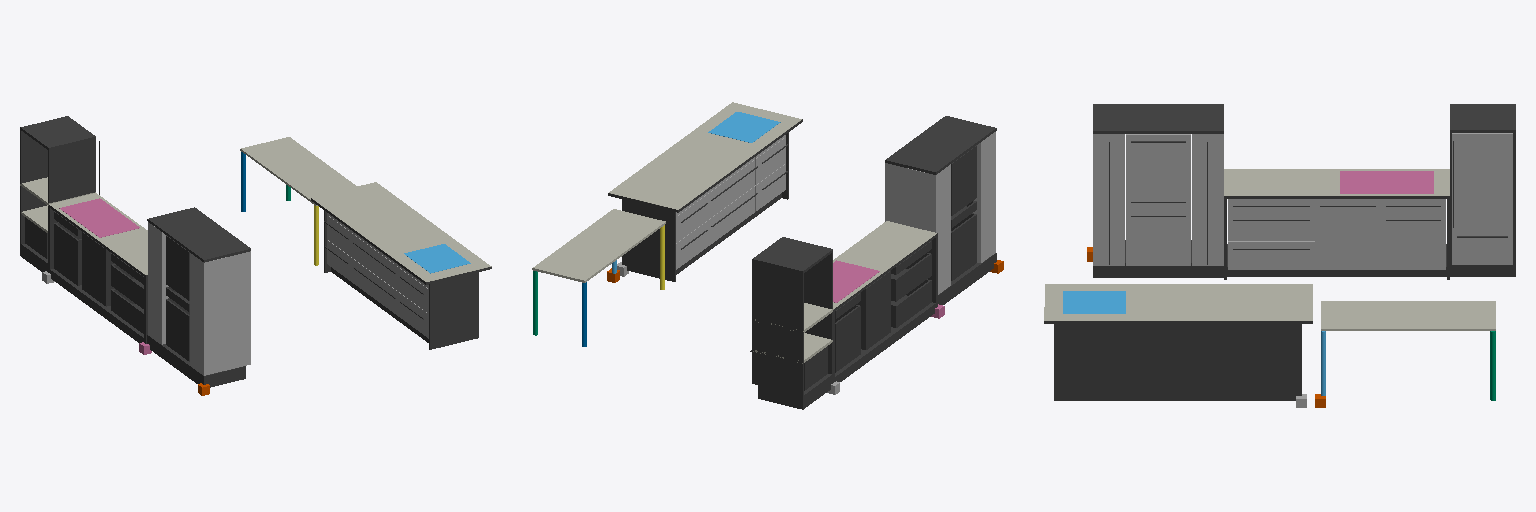
--- What the picture shows (computed from the rendered views, not written in the file) ---
The picture shows the robot from 3 angles, left to right: view 1: azimuth 30°, elevation 25°; view 2: azimuth 150°, elevation 25°; view 3: azimuth 270°, elevation 25°; orthographic projection.
Model kitchen with 174 links and 173 joints (1 revolute, 21 prismatic, 151 fixed), rooted at kitchen_link, posed every joint at zero.
Links seen in each view (by area): view 1: drawer_oven_left_link, white_counter_top_island_link, pancake_table_table_top_link, counter_side_island_right_link, counter_top_oven_link, counter_side_fridge_left_link, drawer_oven_right_link, white_counter_top_sink_link, counter_side_fridge_right_link, sink_link, counter_top_fridge_link, drawer_sink_col2_back_link (+15 smaller); view 2: white_counter_top_island_link, counter_side_fridge_right_link, drawer_oven_right_link, pancake_table_table_top_link, counter_top_oven_link, white_counter_top_sink_link, counter_side_island_left_link, drawer_oven_left_link, counter_side_fridge_left_link, counter_top_fridge_link, drawer_sink_col2_back_link, drawer_oven_oven_back_link (+18 smaller); view 3: counter_side_island_back_link, white_counter_top_island_link, fridge_link, pancake_table_table_top_link, drawer_sink_col2_link, drawer_oven_left_link, drawer_oven_right_link, white_counter_top_sink_link, counter_top_oven_link, drawer_oven_oven_link, drawer_oven_bottom_link, drawer_sink_col3_bottom_link (+14 smaller).
Boxes of the visible links, left/top/right/bottom form: drawer_oven_left_link: left=190, top=251, right=250, bottom=375; white_counter_top_island_link: left=312, top=182, right=491, bottom=281; pancake_table_table_top_link: left=240, top=137, right=356, bottom=205; counter_side_island_right_link: left=429, top=272, right=478, bottom=349; counter_top_oven_link: left=147, top=207, right=250, bottom=262; counter_side_fridge_left_link: left=48, top=139, right=95, bottom=263; drawer_oven_right_link: left=148, top=222, right=168, bottom=344; white_counter_top_sink_link: left=49, top=193, right=147, bottom=274; counter_side_fridge_right_link: left=20, top=130, right=47, bottom=243; sink_link: left=59, top=198, right=139, bottom=237; counter_top_fridge_link: left=20, top=116, right=95, bottom=149; drawer_sink_col2_back_link: left=82, top=232, right=107, bottom=306; white_counter_top_island_link: left=609, top=102, right=801, bottom=209; counter_side_fridge_right_link: left=752, top=262, right=803, bottom=395; drawer_oven_right_link: left=885, top=163, right=950, bottom=294; pancake_table_table_top_link: left=532, top=209, right=665, bottom=282; counter_top_oven_link: left=885, top=116, right=996, bottom=174; white_counter_top_sink_link: left=833, top=221, right=936, bottom=309; counter_side_island_left_link: left=622, top=199, right=675, bottom=281; drawer_oven_left_link: left=973, top=132, right=995, bottom=262; counter_side_fridge_left_link: left=804, top=253, right=832, bottom=374; counter_top_fridge_link: left=752, top=237, right=832, bottom=273; drawer_sink_col2_back_link: left=864, top=271, right=890, bottom=349; drawer_oven_oven_back_link: left=951, top=145, right=976, bottom=215; counter_side_island_back_link: left=1058, top=324, right=1298, bottom=400; white_counter_top_island_link: left=1044, top=284, right=1312, bottom=320; fridge_link: left=1452, top=133, right=1512, bottom=228; pancake_table_table_top_link: left=1321, top=301, right=1495, bottom=330; drawer_sink_col2_link: left=1315, top=199, right=1380, bottom=269; drawer_oven_left_link: left=1093, top=134, right=1124, bottom=265; drawer_oven_right_link: left=1192, top=134, right=1223, bottom=265; white_counter_top_sink_link: left=1224, top=169, right=1449, bottom=195; counter_top_oven_link: left=1093, top=104, right=1223, bottom=133; drawer_oven_oven_link: left=1126, top=134, right=1190, bottom=195; drawer_oven_bottom_link: left=1126, top=209, right=1190, bottom=265; drawer_sink_col3_bottom_link: left=1381, top=213, right=1445, bottom=269.
Bounding box of the posed robot: 3.34 × 4.3 × 1.56 m (x, y, z).
Geometry: primitives only (box / cylinder / sphere), no mesh files.

The robot description file, URDF, robot "kitchen":
<?xml version="1.0" encoding="utf-8"?>
<!-- =================================================================================== -->
<!-- |    This document was autogenerated by xacro from /workspace/src/iai_maps/build-rel/room/kitchen_area.xacro | -->
<!-- |    EDITING THIS FILE BY HAND IS NOT RECOMMENDED                                 | -->
<!-- =================================================================================== -->
<robot name="kitchen" xmlns:controller="http://playerstage.sourceforge.net/gazebo/xmlschema/#controller" xmlns:interface="http://playerstage.sourceforge.net/gazebo/xmlschema/#interface" xmlns:sensor="http://playerstage.sourceforge.net/gazebo/xmlschema/#sensor">
  <material name="KitchenWhite">
    <color rgba="0.75 0.75 0.7 1.0"/>
  </material>
  <material name="KitchenDarkGray">
    <color rgba="0.3 0.3 0.3 1.0"/>
  </material>
  <material name="KitchenLightGray">
    <color rgba="0.7 0.7 0.7 1.0"/>
  </material>
  <material name="KitchenWallWhite">
    <color rgba="1.0 1.0 1.0 1.0"/>
  </material>
  <material name="KitchenSink">
    <texture filename="package://hpp_tutorial/Media/materials/textures/sink.png"/>
  </material>
  <material name="KitchenStove">
    <texture filename="package://hpp_tutorial/Media/materials/textures/stove.png"/>
  </material>
  <!-- Little helper macro to define the inertia matrix needed for links. -->
  <!-- Length is along the y-axis. -->
  <!--<xacro:macro name="handle" params="name position link clearance">
    <handle name="${name}" clearance="${clearance}">
      <position>${position}</position>
      <link name="${link}" />
    </handle>
  </xacro:macro>-->
  <!--  <xacro:include filename="/workspace/src/iai_maps/build-rel/defs/ias_kitchen/materials.xacro"/>-->
  <!--                       -->
  <!-- Handle Goemetry Macro -->
  <!--                       -->
  <!--                         -->
  <!-- Axial Handle SRDF Macro -->
  <!--                         -->
  <!--                   -->
  <!-- Handle SRDF Macro -->
  <!--                   -->
  <!--              -->
  <!-- Drawer Macro -->
  <!--              -->
  <!--                   -->
  <!-- Drawer SRDF Macro -->
  <!--                   -->
  <!--                       -->
  <!-- Drawer Vertical Macro -->
  <!--                       -->
  <!--              -->
  <!-- Fridge Macro -->
  <!--              -->
  <!--                   -->
  <!-- Fridge SRDF Macro -->
  <!--                   -->
  <!--               -->
  <!-- Counter Macro -->
  <!--               -->
  <!--                     -->
  <!-- Color Counter Macro -->
  <!--                     -->
  <!--                    -->
  <!-- Counter Side Macro -->
  <!--                    -->
  <!--             -->
  <!-- Rack Macro -->
  <!--             -->
  <!--                 -->
  <!-- Rack Side Macro -->
  <!--                 -->
  <!--                -->
  <!-- Skirting Macro -->
  <!--                -->
  <!--             -->
  <!-- Island Area -->
  <!--             -->
  <!--           -->
  <!-- Oven Area -->
  <!--           -->
  <!--             -->
  <!-- Fridge Area -->
  <!--             -->
  <!--                  -->
  <!-- Fridge SRDF Area -->
  <!--                  -->
  <!--               -->
  <!-- Shopping Area -->
  <!--               -->
  <!-- Little helper macro to define the inertia matrix needed for links. -->
  <!-- Length is along the y-axis. -->
  <!--<xacro:macro name="handle" params="name position link clearance">
    <handle name="${name}" clearance="${clearance}">
      <position>${position}</position>
      <link name="${link}" />
    </handle>
  </xacro:macro>-->
  <!--  <xacro:include filename="/workspace/src/iai_maps/build-rel/defs/ias_kitchen/materials.xacro"/>-->
  <!--                       -->
  <!-- Handle Goemetry Macro -->
  <!--                       -->
  <!--                         -->
  <!-- Axial Handle SRDF Macro -->
  <!--                         -->
  <!--                   -->
  <!-- Handle SRDF Macro -->
  <!--                   -->
  <!--              -->
  <!-- Drawer Macro -->
  <!--              -->
  <!--                   -->
  <!-- Drawer SRDF Macro -->
  <!--                   -->
  <!--                       -->
  <!-- Drawer Vertical Macro -->
  <!--                       -->
  <!--              -->
  <!-- Fridge Macro -->
  <!--              -->
  <!--                   -->
  <!-- Fridge SRDF Macro -->
  <!--                   -->
  <!--               -->
  <!-- Counter Macro -->
  <!--               -->
  <!--                     -->
  <!-- Color Counter Macro -->
  <!--                     -->
  <!--                    -->
  <!-- Counter Side Macro -->
  <!--                    -->
  <!--             -->
  <!-- Rack Macro -->
  <!--             -->
  <!--                 -->
  <!-- Rack Side Macro -->
  <!--                 -->
  <!--                -->
  <!-- Skirting Macro -->
  <!--                -->
  <!-- Little helper macro to define the inertia matrix needed for links. -->
  <!-- Length is along the y-axis. -->
  <!--<xacro:macro name="handle" params="name position link clearance">
    <handle name="${name}" clearance="${clearance}">
      <position>${position}</position>
      <link name="${link}" />
    </handle>
  </xacro:macro>-->
  <!--       -->
  <!-- Table -->
  <!--       -->
  <!-- Little helper macro to define the inertia matrix needed for links. -->
  <!-- Length is along the y-axis. -->
  <!--<xacro:macro name="handle" params="name position link clearance">
    <handle name="${name}" clearance="${clearance}">
      <position>${position}</position>
      <link name="${link}" />
    </handle>
  </xacro:macro>-->
  <!--  <xacro:include filename="/workspace/src/iai_maps/build-rel/defs/ias_kitchen/materials.xacro"/>-->
  <!--                       -->
  <!-- Handle Goemetry Macro -->
  <!--                       -->
  <!--                         -->
  <!-- Axial Handle SRDF Macro -->
  <!--                         -->
  <!--                   -->
  <!-- Handle SRDF Macro -->
  <!--                   -->
  <!--              -->
  <!-- Drawer Macro -->
  <!--              -->
  <!--                   -->
  <!-- Drawer SRDF Macro -->
  <!--                   -->
  <!--                       -->
  <!-- Drawer Vertical Macro -->
  <!--                       -->
  <!--              -->
  <!-- Fridge Macro -->
  <!--              -->
  <!--                   -->
  <!-- Fridge SRDF Macro -->
  <!--                   -->
  <!--               -->
  <!-- Counter Macro -->
  <!--               -->
  <!--                     -->
  <!-- Color Counter Macro -->
  <!--                     -->
  <!--                    -->
  <!-- Counter Side Macro -->
  <!--                    -->
  <!--             -->
  <!-- Rack Macro -->
  <!--             -->
  <!--                 -->
  <!-- Rack Side Macro -->
  <!--                 -->
  <!--                -->
  <!-- Skirting Macro -->
  <!--                -->
  <!-- Little helper macro to define the inertia matrix needed for links. -->
  <!-- Length is along the y-axis. -->
  <!--<xacro:macro name="handle" params="name position link clearance">
    <handle name="${name}" clearance="${clearance}">
      <position>${position}</position>
      <link name="${link}" />
    </handle>
  </xacro:macro>-->
  <!--       -->
  <!-- Table -->
  <!--       -->
  <!--        -->
  <!-- Cuboid -->
  <!--        -->
  <!-- This is the top level joint /tf frame. -->
  <link name="kitchen_link">
    <!--<sphere_inertia radius="0.001" mass="1"/>-->
  </link>
  <!-- Shelves on top of kitchen counter -->
  <!--<counter parent="kitchen"
  name="shelf_bottom"
  pos_x="-5.22" pos_y="-5.65" pos_z="0.85"
  roll="0" pitch="0" yaw="0"
  size_x="0.25" size_y="0.38" size_z="0.025"
  />
  <counter parent="kitchen"
  name="shelf_center"
  pos_x="-5.22" pos_y="-5.65" pos_z="1.15"
  roll="0" pitch="0" yaw="0"
  size_x="0.21" size_y="0.38" size_z="0.025"
  />
  <counter parent="kitchen"
  name="shelf_top"
  pos_x="-5.22" pos_y="-5.65" pos_z="1.48"
  roll="0" pitch="0" yaw="0"
  size_x="0.25" size_y="0.38" size_z="0.025"
  />-->
  <joint name="island_block_stove_joint" type="fixed">
    <origin rpy="0 0 0" xyz="0 0 0"/>
    <parent link="island_block_link"/>
    <child link="stove_link"/>
  </joint>
  <link name="stove_link">
    <inertial>
      <mass value="1.0"/>
      <inertia ixx="0.0270770833333" ixy="0" ixz="0" iyy="0.0479083333333" iyz="0" izz="0.0208354166667"/>
    </inertial>
    <visual>
      <origin rpy="0 0 0" xyz=".30 1.895 .8525"/>
      <geometry>
        <box size=".50 .57 0.005"/>
      </geometry>
      <material name="KitchenStove"/>
    </visual>
    <collision>
      <origin rpy="0 0 0" xyz=".30 1.895 .8525"/>
      <geometry>
        <box size=".50 .57 0.005"/>
      </geometry>
    </collision>
  </link>
  <gazebo reference="stove_link">
    <material value="Ias/KitchenStove"/>
  </gazebo>
  <joint name="island_block_counter_side_island_left_joint" type="fixed">
    <origin rpy="0 0 0" xyz="0.3 0.015 0.41"/>
    <parent link="island_block_link"/>
    <child link="counter_side_island_left_link"/>
  </joint>
  <link name="counter_side_island_left_link">
    <inertial>
      <mass value="2.0"/>
      <inertia ixx="0.112216666667" ixy="0" ixz="0" iyy="0.06015" iyz="0" izz="0.172066666667"/>
    </inertial>
    <visual>
      <origin rpy="0 0 0" xyz="0 0 0"/>
      <geometry>
        <box size="0.6 0.03 0.82"/>
      </geometry>
      <material name="KitchenDarkGray"/>
    </visual>
    <collision>
      <origin rpy="0 0 0" xyz="0 0 0"/>
      <geometry>
        <box size="0.6 0.03 0.82"/>
      </geometry>
    </collision>
  </link>
  <gazebo reference="counter_side_island_left_link">
    <material value="Ias/KitchenDarkGray"/>
  </gazebo>
  <joint name="island_block_counter_side_island_right_joint" type="fixed">
    <origin rpy="0 0 0" xyz="0.3 2.245 0.41"/>
    <parent link="island_block_link"/>
    <child link="counter_side_island_right_link"/>
  </joint>
  <link name="counter_side_island_right_link">
    <inertial>
      <mass value="2.0"/>
      <inertia ixx="0.112216666667" ixy="0" ixz="0" iyy="0.06015" iyz="0" izz="0.172066666667"/>
    </inertial>
    <visual>
      <origin rpy="0 0 0" xyz="0 0 0"/>
      <geometry>
        <box size="0.6 0.03 0.82"/>
      </geometry>
      <material name="KitchenDarkGray"/>
    </visual>
    <collision>
      <origin rpy="0 0 0" xyz="0 0 0"/>
      <geometry>
        <box size="0.6 0.03 0.82"/>
      </geometry>
    </collision>
  </link>
  <gazebo reference="counter_side_island_right_link">
    <material value="Ias/KitchenDarkGray"/>
  </gazebo>
  <joint name="island_block_counter_side_island_back_joint" type="fixed">
    <origin rpy="0 0 0" xyz="0.01 1.13 0.41"/>
    <parent link="island_block_link"/>
    <child link="counter_side_island_back_link"/>
  </joint>
  <link name="counter_side_island_back_link">
    <inertial>
      <mass value="2.0"/>
      <inertia ixx="0.918733333333" ixy="0" ixz="0" iyy="0.806733333333" iyz="0" izz="0.112133333333"/>
    </inertial>
    <visual>
      <origin rpy="0 0 0" xyz="0 0 0"/>
      <geometry>
        <box size="0.02 2.2 0.82"/>
      </geometry>
      <material name="KitchenDarkGray"/>
    </visual>
    <collision>
      <origin rpy="0 0 0" xyz="0 0 0"/>
      <geometry>
        <box size="0.02 2.2 0.82"/>
      </geometry>
    </collision>
  </link>
  <gazebo reference="counter_side_island_back_link">
    <material value="Ias/KitchenDarkGray"/>
  </gazebo>
  <joint name="island_block_counter_top_island_joint" type="fixed">
    <origin rpy="0 0 0" xyz="0.3 1.125 0.835"/>
    <parent link="island_block_link"/>
    <child link="counter_top_island_link"/>
  </joint>
  <link name="counter_top_island_link">
    <inertial>
      <mass value="2.0"/>
      <inertia ixx="1.00056666667" ixy="0" ixz="0" iyy="1.10708333333" iyz="0" izz="0.106816666667"/>
    </inertial>
    <visual>
      <origin rpy="0 0 0" xyz="0 0 0"/>
      <geometry>
        <box size="0.8 2.45 0.03"/>
      </geometry>
      <material name="KitchenDarkGray"/>
    </visual>
    <collision>
      <origin rpy="0 0 0" xyz="0 0 0"/>
      <geometry>
        <box size="0.8 2.45 0.03"/>
      </geometry>
    </collision>
  </link>
  <gazebo reference="counter_top_island_link">
    <kp>100000</kp>
    <kd>1000000</kd>
    <mu1>50000</mu1>
    <mu2>50000</mu2>
    <material value="Ias/KitchenDarkGray"/>
  </gazebo>
  <joint name="island_block_white_counter_top_island_joint" type="fixed">
    <origin rpy="0 0 0" xyz="0.3 1.125 0.851"/>
    <parent link="island_block_link"/>
    <child link="white_counter_top_island_link"/>
  </joint>
  <link name="white_counter_top_island_link">
    <inertial>
      <mass value="2.0"/>
      <inertia ixx="1.00041733333" ixy="0" ixz="0" iyy="1.10708333333" iyz="0" izz="0.106667333333"/>
    </inertial>
    <visual>
      <origin rpy="0 0 0" xyz="0 0 0"/>
      <geometry>
        <box size="0.8 2.45 0.002"/>
      </geometry>
      <material name="KitchenWhite"/>
    </visual>
    <collision>
      <origin rpy="0 0 0" xyz="0 0 0"/>
      <geometry>
        <box size="0.8 2.45 0.002"/>
      </geometry>
    </collision>
  </link>
  <gazebo reference="white_counter_top_island_link">
    <kp>100000</kp>
    <kd>1000000</kd>
    <mu1>50000</mu1>
    <mu2>50000</mu2>
    <material value="Ias/KitchenWhite"/>
  </gazebo>
  <joint name="island_block_drawer_island_col1_bottom_fixed_joint" type="fixed">
    <origin rpy="0 0 0" xyz="0.57 0.33 0.245"/>
    <parent link="island_block_link"/>
    <child link="drawer_island_col1_bottom_fixed_link"/>
  </joint>
  <link name="drawer_island_col1_bottom_fixed_link">
    <inertial>
      <mass value="1"/>
      <inertia ixx="4e-07" ixy="0" ixz="0" iyy="4e-07" iyz="0" izz="4e-07"/>
    </inertial>
  </link>
  <joint name="island_block_drawer_island_col1_bottom_joint" type="prismatic">
    <origin rpy="0 0 0" xyz="0 0 0"/>
    <parent link="drawer_island_col1_bottom_fixed_link"/>
    <child link="drawer_island_col1_bottom_link"/>
    <axis xyz="0.999 0 0.044"/>
    <!-- the axis needs to be slightly tilted so that the drawers would stay closed in Gazebo-->
    <limit effort="300" lower="0" upper="0.48" velocity="10"/>
  </joint>
  <gazebo reference="island_block_drawer_island_col1_bottom_joint">
    <erp>0.8</erp>
    <cfm>0.0000001</cfm>
    <stopKp>1000000.0</stopKp>
    <stopKd>1.0</stopKd>
  </gazebo>
  <link name="drawer_island_col1_bottom_link">
    <inertial>
      <mass value="1.0"/>
      <inertia ixx="0.0370083333333" ixy="0" ixz="0" iyy="0.0300333333333" iyz="0" izz="0.00704166666667"/>
    </inertial>
    <visual>
      <origin rpy="0 0 0" xyz="0 0 0"/>
      <geometry>
        <box size="0.02 0.595 0.285"/>
      </geometry>
      <material name="KitchenLightGray"/>
    </visual>
    <collision>
      <origin rpy="0 0 0" xyz="0 0 0"/>
      <geometry>
        <box size="0.02 0.6 0.29"/>
      </geometry>
    </collision>
  </link>
  <gazebo reference="drawer_island_col1_bottom_link">
    <material value="Ias/KitchenLightGray"/>
  </gazebo>
  <joint name="drawer_island_col1_bottom_left_fixed_joint" type="fixed">
    <origin rpy="0 0 0" xyz="0 0 0"/>
    <parent link="drawer_island_col1_bottom_link"/>
    <child link="drawer_island_col1_bottom_left_link"/>
  </joint>
  <link name="drawer_island_col1_bottom_left_link">
    <inertial>
      <mass value="1.0"/>
      <inertia ixx="0.00483333333333" ixy="0" ixz="0" iyy="0.0243333333333" iyz="0" izz="0.0291"/>
    </inertial>
    <visual>
      <origin rpy="0 0 0" xyz="-0.27 -0.24 0"/>
      <geometry>
        <box size="0.54 0.02 0.24"/>
      </geometry>
      <material name="KitchenDarkGray"/>
    </visual>
    <collision>
      <origin rpy="0 0 0" xyz="-0.27 -0.24 0"/>
      <geometry>
        <box size="0.54 0.02 0.24"/>
      </geometry>
    </collision>
  </link>
  <gazebo reference="drawer_island_col1_bottom_left_link">
    <material value="Ias/KitchenLightGray"/>
  </gazebo>
  <joint name="drawer_island_col1_bottom_right_fixed_joint" type="fixed">
    <origin rpy="0 0 0" xyz="0 0 0"/>
    <parent link="drawer_island_col1_bottom_link"/>
    <child link="drawer_island_col1_bottom_right_link"/>
  </joint>
  <link name="drawer_island_col1_bottom_right_link">
    <inertial>
      <mass value="1.0"/>
      <inertia ixx="0.00483333333333" ixy="0" ixz="0" iyy="0.0243333333333" iyz="0" izz="0.0291"/>
    </inertial>
    <visual>
      <origin rpy="0 0 0" xyz="-0.27 0.24 0"/>
      <geometry>
        <box size="0.54 0.02 0.24"/>
      </geometry>
      <material name="KitchenDarkGray"/>
    </visual>
    <collision>
      <origin rpy="0 0 0" xyz="-0.27 0.24 0"/>
      <geometry>
        <box size="0.54 0.02 0.24"/>
      </geometry>
    </collision>
  </link>
  <gazebo reference="drawer_island_col1_bottom_right_link">
    <material value="Ias/KitchenLightGray"/>
  </gazebo>
  <joint name="drawer_island_col1_bottom_back_fixed_joint" type="fixed">
    <origin rpy="0 0 0" xyz="0 0 0"/>
    <parent link="drawer_island_col1_bottom_link"/>
    <child link="drawer_island_col1_bottom_back_link"/>
  </joint>
  <link name="drawer_island_col1_bottom_back_link">
    <inertial>
      <mass value="1.0"/>
      <inertia ixx="0.0256333333333" ixy="0" ixz="0" iyy="0.0208666666667" iyz="0" izz="0.00483333333333"/>
    </inertial>
    <visual>
      <origin rpy="0 0 0" xyz="-0.54 0 0"/>
      <geometry>
        <box size="0.02 0.5 0.24"/>
      </geometry>
      <material name="KitchenDarkGray"/>
    </visual>
    <collision>
      <origin rpy="0 0 0" xyz="-0.54 0 0"/>
      <geometry>
        <box size="0.02 0.5 0.24"/>
      </geometry>
    </collision>
  </link>
  <gazebo reference="drawer_island_col1_bottom_back_link">
    <material value="Ias/KitchenLightGray"/>
  </gazebo>
  <joint name="drawer_island_col1_bottom_bottom_fixed_joint" type="fixed">
    <origin rpy="0 0 0" xyz="0 0 0"/>
    <parent link="drawer_island_col1_bottom_link"/>
    <child link="drawer_island_col1_bottom_bottom_link"/>
  </joint>
  <link name="drawer_island_col1_bottom_bottom_link">
    <inertial>
      <mass value="1.0"/>
      <inertia ixx="0.0208666666667" ixy="0" ixz="0" iyy="0.0451333333333" iyz="0" izz="0.0243333333333"/>
    </inertial>
    <visual>
      <origin rpy="0 0 0" xyz="-0.27 0 -0.11"/>
      <geometry>
        <box size="0.54 0.5 0.02"/>
      </geometry>
      <material name="KitchenDarkGray"/>
    </visual>
    <collision>
      <origin rpy="0 0 0" xyz="-0.27 0 -0.11"/>
      <geometry>
        <box size="0.54 0.5 0.02"/>
      </geometry>
    </collision>
  </link>
  <gazebo reference="drawer_island_col1_bottom_bottom_link">
    <material value="Ias/KitchenLightGray"/>
  </gazebo>
  <joint name="drawer_island_col1_bottom_handle_drawer_island_col1_bottom_joint" type="fixed">
    <origin rpy="0 0 0" xyz="0.0625 0.0 0.0925"/>
    <parent link="drawer_island_col1_bottom_link"/>
    <child link="handle_drawer_island_col1_bottom_link"/>
  </joint>
  <link name="handle_drawer_island_col1_bottom_link">
    <inertial>
      <mass value="0.1"/>
      <inertia ixx="0.00212604166667" ixy="0" ixz="0" iyy="0.00212604166667" iyz="0" izz="1.66666666667e-06"/>
    </inertial>
    <visual>
      <origin rpy="0 0 0" xyz="0 0 0"/>
      <geometry>
        <box size="0.01 0.505 0.01"/>
      </geometry>
      <material name="KitchenDarkGray"/>
    </visual>
    <collision>
      <origin rpy="0 0 0" xyz="0 0 0"/>
      <geometry>
        <box size="0.015 0.51 0.015"/>
      </geometry>
    </collision>
  </link>
  <gazebo reference="handle_drawer_island_col1_bottom_link">
    <material value="Ias/KitchenDarkGray"/>
  </gazebo>
  <joint name="island_block_drawer_island_col1_center_fixed_joint" type="fixed">
    <origin rpy="0 0 0" xyz="0.57 0.33 0.535"/>
    <parent link="island_block_link"/>
    <child link="drawer_island_col1_center_fixed_link"/>
  </joint>
  <link name="drawer_island_col1_center_fixed_link">
    <inertial>
      <mass value="1"/>
      <inertia ixx="4e-07" ixy="0" ixz="0" iyy="4e-07" iyz="0" izz="4e-07"/>
    </inertial>
  </link>
  <joint name="island_block_drawer_island_col1_center_joint" type="prismatic">
    <origin rpy="0 0 0" xyz="0 0 0"/>
    <parent link="drawer_island_col1_center_fixed_link"/>
    <child link="drawer_island_col1_center_link"/>
    <axis xyz="0.999 0 0.044"/>
    <!-- the axis needs to be slightly tilted so that the drawers would stay closed in Gazebo-->
    <limit effort="300" lower="0" upper="0.48" velocity="10"/>
  </joint>
  <gazebo reference="island_block_drawer_island_col1_center_joint">
    <erp>0.8</erp>
    <cfm>0.0000001</cfm>
    <stopKp>1000000.0</stopKp>
    <stopKd>1.0</stopKd>
  </gazebo>
  <link name="drawer_island_col1_center_link">
    <inertial>
      <mass value="1.0"/>
      <inertia ixx="0.0370083333333" ixy="0" ixz="0" iyy="0.0300333333333" iyz="0" izz="0.00704166666667"/>
    </inertial>
    <visual>
      <origin rpy="0 0 0" xyz="0 0 0"/>
      <geometry>
        <box size="0.02 0.595 0.285"/>
      </geometry>
      <material name="KitchenLightGray"/>
    </visual>
    <collision>
      <origin rpy="0 0 0" xyz="0 0 0"/>
      <geometry>
        <box size="0.02 0.6 0.29"/>
      </geometry>
    </collision>
  </link>
  <gazebo reference="drawer_island_col1_center_link">
    <material value="Ias/KitchenLightGray"/>
  </gazebo>
  <joint name="drawer_island_col1_center_left_fixed_joint" type="fixed">
    <origin rpy="0 0 0" xyz="0 0 0"/>
    <parent link="drawer_island_col1_center_link"/>
    <child link="drawer_island_col1_center_left_link"/>
  </joint>
  <link name="drawer_island_col1_center_left_link">
    <inertial>
      <mass value="1.0"/>
      <inertia ixx="0.00483333333333" ixy="0" ixz="0" iyy="0.0243333333333" iyz="0" izz="0.0291"/>
    </inertial>
    <visual>
      <origin rpy="0 0 0" xyz="-0.27 -0.24 0"/>
      <geometry>
        <box size="0.54 0.02 0.24"/>
      </geometry>
      <material name="KitchenDarkGray"/>
    </visual>
    <collision>
      <origin rpy="0 0 0" xyz="-0.27 -0.24 0"/>
      <geometry>
        <box size="0.54 0.02 0.24"/>
      </geometry>
    </collision>
  </link>
  <gazebo reference="drawer_island_col1_center_left_link">
    <material value="Ias/KitchenLightGray"/>
  </gazebo>
  <joint name="drawer_island_col1_center_right_fixed_joint" type="fixed">
    <origin rpy="0 0 0" xyz="0 0 0"/>
    <parent link="drawer_island_col1_center_link"/>
    <child link="drawer_island_col1_center_right_link"/>
  </joint>
  <link name="drawer_island_col1_center_right_link">
    <inertial>
      <mass value="1.0"/>
      <inertia ixx="0.00483333333333" ixy="0" ixz="0" iyy="0.0243333333333" iyz="0" izz="0.0291"/>
    </inertial>
    <visual>
      <origin rpy="0 0 0" xyz="-0.27 0.24 0"/>
      <geometry>
        <box size="0.54 0.02 0.24"/>
      </geometry>
      <material name="KitchenDarkGray"/>
    </visual>
    <collision>
      <origin rpy="0 0 0" xyz="-0.27 0.24 0"/>
      <geometry>
        <box size="0.54 0.02 0.24"/>
      </geometry>
    </collision>
  </link>
  <gazebo reference="drawer_island_col1_center_right_link">
    <material value="Ias/KitchenLightGray"/>
  </gazebo>
  <joint name="drawer_island_col1_center_back_fixed_joint" type="fixed">
    <origin rpy="0 0 0" xyz="0 0 0"/>
    <parent link="drawer_island_col1_center_link"/>
    <child link="drawer_island_col1_center_back_link"/>
  </joint>
  <link name="drawer_island_col1_center_back_link">
    <inertial>
      <mass value="1.0"/>
      <inertia ixx="0.0256333333333" ixy="0" ixz="0" iyy="0.0208666666667" iyz="0" izz="0.00483333333333"/>
    </inertial>
    <visual>
      <origin rpy="0 0 0" xyz="-0.54 0 0"/>
      <geometry>
        <box size="0.02 0.5 0.24"/>
      </geometry>
      <material name="KitchenDarkGray"/>
    </visual>
    <collision>
      <origin rpy="0 0 0" xyz="-0.54 0 0"/>
      <geometry>
        <box size="0.02 0.5 0.24"/>
      </geometry>
    </collision>
  </link>
  <gazebo reference="drawer_island_col1_center_back_link">
    <material value="Ias/KitchenLightGray"/>
  </gazebo>
  <joint name="drawer_island_col1_center_bottom_fixed_joint" type="fixed">
    <origin rpy="0 0 0" xyz="0 0 0"/>
    <parent link="drawer_island_col1_center_link"/>
    <child link="drawer_island_col1_center_bottom_link"/>
  </joint>
  <link name="drawer_island_col1_center_bottom_link">
    <inertial>
      <mass value="1.0"/>
      <inertia ixx="0.0208666666667" ixy="0" ixz="0" iyy="0.0451333333333" iyz="0" izz="0.0243333333333"/>
    </inertial>
    <visual>
      <origin rpy="0 0 0" xyz="-0.27 0 -0.11"/>
      <geometry>
        <box size="0.54 0.5 0.02"/>
      </geometry>
      <material name="KitchenDarkGray"/>
    </visual>
    <collision>
      <origin rpy="0 0 0" xyz="-0.27 0 -0.11"/>
      <geometry>
        <box size="0.54 0.5 0.02"/>
      </geometry>
    </collision>
  </link>
  <gazebo reference="drawer_island_col1_center_bottom_link">
    <material value="Ias/KitchenLightGray"/>
  </gazebo>
  <joint name="drawer_island_col1_center_handle_drawer_island_col1_center_joint" type="fixed">
    <origin rpy="0 0 0" xyz="0.0625 0.0 0.0925"/>
    <parent link="drawer_island_col1_center_link"/>
    <child link="handle_drawer_island_col1_center_link"/>
  </joint>
  <link name="handle_drawer_island_col1_center_link">
    <inertial>
      <mass value="0.1"/>
      <inertia ixx="0.00212604166667" ixy="0" ixz="0" iyy="0.00212604166667" iyz="0" izz="1.66666666667e-06"/>
    </inertial>
    <visual>
      <origin rpy="0 0 0" xyz="0 0 0"/>
      <geometry>
        <box size="0.01 0.505 0.01"/>
      </geometry>
      <material name="KitchenDarkGray"/>
    </visual>
    <collision>
      <origin rpy="0 0 0" xyz="0 0 0"/>
      <geometry>
        <box size="0.015 0.51 0.015"/>
      </geometry>
    </collision>
  </link>
  <gazebo reference="handle_drawer_island_col1_center_link">
    <material value="Ias/KitchenDarkGray"/>
  </gazebo>
  <joint name="island_block_drawer_island_col1_top_fixed_joint" type="fixed">
    <origin rpy="0 0 0" xyz="0.57 0.33 0.75"/>
    <parent link="island_block_link"/>
    <child link="drawer_island_col1_top_fixed_link"/>
  </joint>
  <link name="drawer_island_col1_top_fixed_link">
    <inertial>
      <mass value="1"/>
      <inertia ixx="4e-07" ixy="0" ixz="0" iyy="4e-07" iyz="0" izz="4e-07"/>
    </inertial>
  </link>
  <joint name="island_block_drawer_island_col1_top_joint" type="prismatic">
    <origin rpy="0 0 0" xyz="0 0 0"/>
    <parent link="drawer_island_col1_top_fixed_link"/>
    <child link="drawer_island_col1_top_link"/>
    <axis xyz="0.999 0 0.044"/>
    <!-- the axis needs to be slightly tilted so that the drawers would stay closed in Gazebo-->
    <limit effort="300" lower="0" upper="0.48" velocity="10"/>
  </joint>
  <gazebo reference="island_block_drawer_island_col1_top_joint">
    <erp>0.8</erp>
    <cfm>0.0000001</cfm>
    <stopKp>1000000.0</stopKp>
    <stopKd>1.0</stopKd>
  </gazebo>
  <link name="drawer_island_col1_top_link">
    <inertial>
      <mass value="1.0"/>
      <inertia ixx="0.0316333333333" ixy="0" ixz="0" iyy="0.0300333333333" iyz="0" izz="0.00166666666667"/>
    </inertial>
    <visual>
      <origin rpy="0 0 0" xyz="0 0 0"/>
      <geometry>
        <box size="0.02 0.595 0.135"/>
      </geometry>
      <material name="KitchenLightGray"/>
    </visual>
    <collision>
      <origin rpy="0 0 0" xyz="0 0 0"/>
      <geometry>
        <box size="0.02 0.6 0.14"/>
      </geometry>
    </collision>
  </link>
  <gazebo reference="drawer_island_col1_top_link">
    <material value="Ias/KitchenLightGray"/>
  </gazebo>
  <joint name="drawer_island_col1_top_left_fixed_joint" type="fixed">
    <origin rpy="0 0 0" xyz="0 0 0"/>
    <parent link="drawer_island_col1_top_link"/>
    <child link="drawer_island_col1_top_left_link"/>
  </joint>
  <link name="drawer_island_col1_top_left_link">
    <inertial>
      <mass value="1.0"/>
      <inertia ixx="0.000708333333333" ixy="0" ixz="0" iyy="0.0243333333333" iyz="0" izz="0.024975"/>
    </inertial>
    <visual>
      <origin rpy="0 0 0" xyz="-0.27 -0.24 0"/>
      <geometry>
        <box size="0.54 0.02 0.09"/>
      </geometry>
      <material name="KitchenDarkGray"/>
    </visual>
    <collision>
      <origin rpy="0 0 0" xyz="-0.27 -0.24 0"/>
      <geometry>
        <box size="0.54 0.02 0.09"/>
      </geometry>
    </collision>
  </link>
  <gazebo reference="drawer_island_col1_top_left_link">
    <material value="Ias/KitchenLightGray"/>
  </gazebo>
  <joint name="drawer_island_col1_top_right_fixed_joint" type="fixed">
    <origin rpy="0 0 0" xyz="0 0 0"/>
    <parent link="drawer_island_col1_top_link"/>
    <child link="drawer_island_col1_top_right_link"/>
  </joint>
  <link name="drawer_island_col1_top_right_link">
    <inertial>
      <mass value="1.0"/>
      <inertia ixx="0.000708333333333" ixy="0" ixz="0" iyy="0.0243333333333" iyz="0" izz="0.024975"/>
    </inertial>
    <visual>
      <origin rpy="0 0 0" xyz="-0.27 0.24 0"/>
      <geometry>
        <box size="0.54 0.02 0.09"/>
      </geometry>
      <material name="KitchenDarkGray"/>
    </visual>
    <collision>
      <origin rpy="0 0 0" xyz="-0.27 0.24 0"/>
      <geometry>
        <box size="0.54 0.02 0.09"/>
      </geometry>
    </collision>
  </link>
  <gazebo reference="drawer_island_col1_top_right_link">
    <material value="Ias/KitchenLightGray"/>
  </gazebo>
  <joint name="drawer_island_col1_top_back_fixed_joint" type="fixed">
    <origin rpy="0 0 0" xyz="0 0 0"/>
    <parent link="drawer_island_col1_top_link"/>
    <child link="drawer_island_col1_top_back_link"/>
  </joint>
  <link name="drawer_island_col1_top_back_link">
    <inertial>
      <mass value="1.0"/>
      <inertia ixx="0.0215083333333" ixy="0" ixz="0" iyy="0.0208666666667" iyz="0" izz="0.000708333333333"/>
    </inertial>
    <visual>
      <origin rpy="0 0 0" xyz="-0.54 0 0"/>
      <geometry>
        <box size="0.02 0.5 0.09"/>
      </geometry>
      <material name="KitchenDarkGray"/>
    </visual>
    <collision>
      <origin rpy="0 0 0" xyz="-0.54 0 0"/>
      <geometry>
        <box size="0.02 0.5 0.09"/>
      </geometry>
    </collision>
  </link>
  <gazebo reference="drawer_island_col1_top_back_link">
    <material value="Ias/KitchenLightGray"/>
  </gazebo>
  <joint name="drawer_island_col1_top_bottom_fixed_joint" type="fixed">
    <origin rpy="0 0 0" xyz="0 0 0"/>
    <parent link="drawer_island_col1_top_link"/>
    <child link="drawer_island_col1_top_bottom_link"/>
  </joint>
  <link name="drawer_island_col1_top_bottom_link">
    <inertial>
      <mass value="1.0"/>
      <inertia ixx="0.0208666666667" ixy="0" ixz="0" iyy="0.0451333333333" iyz="0" izz="0.0243333333333"/>
    </inertial>
    <visual>
      <origin rpy="0 0 0" xyz="-0.27 0 -0.035"/>
      <geometry>
        <box size="0.54 0.5 0.02"/>
      </geometry>
      <material name="KitchenDarkGray"/>
    </visual>
    <collision>
      <origin rpy="0 0 0" xyz="-0.27 0 -0.035"/>
      <geometry>
        <box size="0.54 0.5 0.02"/>
      </geometry>
    </collision>
  </link>
  <gazebo reference="drawer_island_col1_top_bottom_link">
    <material value="Ias/KitchenLightGray"/>
  </gazebo>
  <joint name="drawer_island_col1_top_handle_drawer_island_col1_top_joint" type="fixed">
    <origin rpy="0 0 0" xyz="0.0625 0.0 0.0175"/>
    <parent link="drawer_island_col1_top_link"/>
    <child link="handle_drawer_island_col1_top_link"/>
  </joint>
  <link name="handle_drawer_island_col1_top_link">
    <inertial>
      <mass value="0.1"/>
      <inertia ixx="0.00212604166667" ixy="0" ixz="0" iyy="0.00212604166667" iyz="0" izz="1.66666666667e-06"/>
    </inertial>
    <visual>
      <origin rpy="0 0 0" xyz="0 0 0"/>
      <geometry>
        <box size="0.01 0.505 0.01"/>
      </geometry>
      <material name="KitchenDarkGray"/>
    </visual>
    <collision>
      <origin rpy="0 0 0" xyz="0 0 0"/>
      <geometry>
        <box size="0.015 0.51 0.015"/>
      </geometry>
    </collision>
  </link>
  <gazebo reference="handle_drawer_island_col1_top_link">
    <material value="Ias/KitchenDarkGray"/>
  </gazebo>
  <joint name="island_block_drawer_island_col2_bottom_fixed_joint" type="fixed">
    <origin rpy="0 0 0" xyz="0.57 1.13 0.245"/>
    <parent link="island_block_link"/>
    <child link="drawer_island_col2_bottom_fixed_link"/>
  </joint>
  <link name="drawer_island_col2_bottom_fixed_link">
    <inertial>
      <mass value="1"/>
      <inertia ixx="4e-07" ixy="0" ixz="0" iyy="4e-07" iyz="0" izz="4e-07"/>
    </inertial>
  </link>
  <joint name="island_block_drawer_island_col2_bottom_joint" type="prismatic">
    <origin rpy="0 0 0" xyz="0 0 0"/>
    <parent link="drawer_island_col2_bottom_fixed_link"/>
    <child link="drawer_island_col2_bottom_link"/>
    <axis xyz="0.999 0 0.044"/>
    <!-- the axis needs to be slightly tilted so that the drawers would stay closed in Gazebo-->
    <limit effort="300" lower="0" upper="0.48" velocity="10"/>
  </joint>
  <gazebo reference="island_block_drawer_island_col2_bottom_joint">
    <erp>0.8</erp>
    <cfm>0.0000001</cfm>
    <stopKp>1000000.0</stopKp>
    <stopKd>1.0</stopKd>
  </gazebo>
  <link name="drawer_island_col2_bottom_link">
    <inertial>
      <mass value="1.0"/>
      <inertia ixx="0.0903416666667" ixy="0" ixz="0" iyy="0.0833666666667" iyz="0" izz="0.00704166666667"/>
    </inertial>
    <visual>
      <origin rpy="0 0 0" xyz="0 0 0"/>
      <geometry>
        <box size="0.02 0.995 0.285"/>
      </geometry>
      <material name="KitchenLightGray"/>
    </visual>
    <collision>
      <origin rpy="0 0 0" xyz="0 0 0"/>
      <geometry>
        <box size="0.02 1.0 0.29"/>
      </geometry>
    </collision>
  </link>
  <gazebo reference="drawer_island_col2_bottom_link">
    <material value="Ias/KitchenLightGray"/>
  </gazebo>
  <joint name="drawer_island_col2_bottom_left_fixed_joint" type="fixed">
    <origin rpy="0 0 0" xyz="0 0 0"/>
    <parent link="drawer_island_col2_bottom_link"/>
    <child link="drawer_island_col2_bottom_left_link"/>
  </joint>
  <link name="drawer_island_col2_bottom_left_link">
    <inertial>
      <mass value="1.0"/>
      <inertia ixx="0.00483333333333" ixy="0" ixz="0" iyy="0.0243333333333" iyz="0" izz="0.0291"/>
    </inertial>
    <visual>
      <origin rpy="0 0 0" xyz="-0.27 -0.44 0"/>
      <geometry>
        <box size="0.54 0.02 0.24"/>
      </geometry>
      <material name="KitchenDarkGray"/>
    </visual>
    <collision>
      <origin rpy="0 0 0" xyz="-0.27 -0.44 0"/>
      <geometry>
        <box size="0.54 0.02 0.24"/>
      </geometry>
    </collision>
  </link>
  <gazebo reference="drawer_island_col2_bottom_left_link">
    <material value="Ias/KitchenLightGray"/>
  </gazebo>
  <joint name="drawer_island_col2_bottom_right_fixed_joint" type="fixed">
    <origin rpy="0 0 0" xyz="0 0 0"/>
    <parent link="drawer_island_col2_bottom_link"/>
    <child link="drawer_island_col2_bottom_right_link"/>
  </joint>
  <link name="drawer_island_col2_bottom_right_link">
    <inertial>
      <mass value="1.0"/>
      <inertia ixx="0.00483333333333" ixy="0" ixz="0" iyy="0.0243333333333" iyz="0" izz="0.0291"/>
    </inertial>
    <visual>
      <origin rpy="0 0 0" xyz="-0.27 0.44 0"/>
      <geometry>
        <box size="0.54 0.02 0.24"/>
      </geometry>
      <material name="KitchenDarkGray"/>
    </visual>
    <collision>
      <origin rpy="0 0 0" xyz="-0.27 0.44 0"/>
      <geometry>
        <box size="0.54 0.02 0.24"/>
      </geometry>
    </collision>
  </link>
  <gazebo reference="drawer_island_col2_bottom_right_link">
    <material value="Ias/KitchenLightGray"/>
  </gazebo>
  <joint name="drawer_island_col2_bottom_back_fixed_joint" type="fixed">
    <origin rpy="0 0 0" xyz="0 0 0"/>
    <parent link="drawer_island_col2_bottom_link"/>
    <child link="drawer_island_col2_bottom_back_link"/>
  </joint>
  <link name="drawer_island_col2_bottom_back_link">
    <inertial>
      <mass value="1.0"/>
      <inertia ixx="0.0723" ixy="0" ixz="0" iyy="0.0675333333333" iyz="0" izz="0.00483333333333"/>
    </inertial>
    <visual>
      <origin rpy="0 0 0" xyz="-0.54 0 0"/>
      <geometry>
        <box size="0.02 0.9 0.24"/>
      </geometry>
      <material name="KitchenDarkGray"/>
    </visual>
    <collision>
      <origin rpy="0 0 0" xyz="-0.54 0 0"/>
      <geometry>
        <box size="0.02 0.9 0.24"/>
      </geometry>
    </collision>
  </link>
  <gazebo reference="drawer_island_col2_bottom_back_link">
    <material value="Ias/KitchenLightGray"/>
  </gazebo>
  <joint name="drawer_island_col2_bottom_bottom_fixed_joint" type="fixed">
    <origin rpy="0 0 0" xyz="0 0 0"/>
    <parent link="drawer_island_col2_bottom_link"/>
    <child link="drawer_island_col2_bottom_bottom_link"/>
  </joint>
  <link name="drawer_island_col2_bottom_bottom_link">
    <inertial>
      <mass value="1.0"/>
      <inertia ixx="0.0675333333333" ixy="0" ixz="0" iyy="0.0918" iyz="0" izz="0.0243333333333"/>
    </inertial>
    <visual>
      <origin rpy="0 0 0" xyz="-0.27 0 -0.11"/>
      <geometry>
        <box size="0.54 0.9 0.02"/>
      </geometry>
      <material name="KitchenDarkGray"/>
    </visual>
    <collision>
      <origin rpy="0 0 0" xyz="-0.27 0 -0.11"/>
      <geometry>
        <box size="0.54 0.9 0.02"/>
      </geometry>
    </collision>
  </link>
  <gazebo reference="drawer_island_col2_bottom_bottom_link">
    <material value="Ias/KitchenLightGray"/>
  </gazebo>
  <joint name="drawer_island_col2_bottom_handle_drawer_island_col2_bottom_joint" type="fixed">
    <origin rpy="0 0 0" xyz="0.0625 0.0 0.0925"/>
    <parent link="drawer_island_col2_bottom_link"/>
    <child link="handle_drawer_island_col2_bottom_link"/>
  </joint>
  <link name="handle_drawer_island_col2_bottom_link">
    <inertial>
      <mass value="0.1"/>
      <inertia ixx="0.00682604166667" ixy="0" ixz="0" iyy="0.00682604166667" iyz="0" izz="1.66666666667e-06"/>
    </inertial>
    <visual>
      <origin rpy="0 0 0" xyz="0 0 0"/>
      <geometry>
        <box size="0.01 0.905 0.01"/>
      </geometry>
      <material name="KitchenDarkGray"/>
    </visual>
    <collision>
      <origin rpy="0 0 0" xyz="0 0 0"/>
      <geometry>
        <box size="0.015 0.91 0.015"/>
      </geometry>
    </collision>
  </link>
  <gazebo reference="handle_drawer_island_col2_bottom_link">
    <material value="Ias/KitchenDarkGray"/>
  </gazebo>
  <joint name="island_block_drawer_island_col2_center_fixed_joint" type="fixed">
    <origin rpy="0 0 0" xyz="0.57 1.13 0.535"/>
    <parent link="island_block_link"/>
    <child link="drawer_island_col2_center_fixed_link"/>
  </joint>
  <link name="drawer_island_col2_center_fixed_link">
    <inertial>
      <mass value="1"/>
      <inertia ixx="4e-07" ixy="0" ixz="0" iyy="4e-07" iyz="0" izz="4e-07"/>
    </inertial>
  </link>
  <joint name="island_block_drawer_island_col2_center_joint" type="prismatic">
    <origin rpy="0 0 0" xyz="0 0 0"/>
    <parent link="drawer_island_col2_center_fixed_link"/>
    <child link="drawer_island_col2_center_link"/>
    <axis xyz="0.999 0 0.044"/>
    <!-- the axis needs to be slightly tilted so that the drawers would stay closed in Gazebo-->
    <limit effort="300" lower="0" upper="0.48" velocity="10"/>
  </joint>
  <gazebo reference="island_block_drawer_island_col2_center_joint">
    <erp>0.8</erp>
    <cfm>0.0000001</cfm>
    <stopKp>1000000.0</stopKp>
    <stopKd>1.0</stopKd>
  </gazebo>
  <link name="drawer_island_col2_center_link">
    <inertial>
      <mass value="1.0"/>
      <inertia ixx="0.0903416666667" ixy="0" ixz="0" iyy="0.0833666666667" iyz="0" izz="0.00704166666667"/>
    </inertial>
    <visual>
      <origin rpy="0 0 0" xyz="0 0 0"/>
      <geometry>
        <box size="0.02 0.995 0.285"/>
      </geometry>
      <material name="KitchenLightGray"/>
    </visual>
    <collision>
      <origin rpy="0 0 0" xyz="0 0 0"/>
      <geometry>
        <box size="0.02 1.0 0.29"/>
      </geometry>
    </collision>
  </link>
  <gazebo reference="drawer_island_col2_center_link">
    <material value="Ias/KitchenLightGray"/>
  </gazebo>
  <joint name="drawer_island_col2_center_left_fixed_joint" type="fixed">
    <origin rpy="0 0 0" xyz="0 0 0"/>
    <parent link="drawer_island_col2_center_link"/>
    <child link="drawer_island_col2_center_left_link"/>
  </joint>
  <link name="drawer_island_col2_center_left_link">
    <inertial>
      <mass value="1.0"/>
      <inertia ixx="0.00483333333333" ixy="0" ixz="0" iyy="0.0243333333333" iyz="0" izz="0.0291"/>
    </inertial>
    <visual>
      <origin rpy="0 0 0" xyz="-0.27 -0.44 0"/>
      <geometry>
        <box size="0.54 0.02 0.24"/>
      </geometry>
      <material name="KitchenDarkGray"/>
    </visual>
    <collision>
      <origin rpy="0 0 0" xyz="-0.27 -0.44 0"/>
      <geometry>
        <box size="0.54 0.02 0.24"/>
      </geometry>
    </collision>
  </link>
  <gazebo reference="drawer_island_col2_center_left_link">
    <material value="Ias/KitchenLightGray"/>
  </gazebo>
  <joint name="drawer_island_col2_center_right_fixed_joint" type="fixed">
    <origin rpy="0 0 0" xyz="0 0 0"/>
    <parent link="drawer_island_col2_center_link"/>
    <child link="drawer_island_col2_center_right_link"/>
  </joint>
  <link name="drawer_island_col2_center_right_link">
    <inertial>
      <mass value="1.0"/>
      <inertia ixx="0.00483333333333" ixy="0" ixz="0" iyy="0.0243333333333" iyz="0" izz="0.0291"/>
    </inertial>
    <visual>
      <origin rpy="0 0 0" xyz="-0.27 0.44 0"/>
      <geometry>
        <box size="0.54 0.02 0.24"/>
      </geometry>
      <material name="KitchenDarkGray"/>
    </visual>
    <collision>
      <origin rpy="0 0 0" xyz="-0.27 0.44 0"/>
      <geometry>
        <box size="0.54 0.02 0.24"/>
      </geometry>
    </collision>
  </link>
  <gazebo reference="drawer_island_col2_center_right_link">
    <material value="Ias/KitchenLightGray"/>
  </gazebo>
  <joint name="drawer_island_col2_center_back_fixed_joint" type="fixed">
    <origin rpy="0 0 0" xyz="0 0 0"/>
    <parent link="drawer_island_col2_center_link"/>
    <child link="drawer_island_col2_center_back_link"/>
  </joint>
  <link name="drawer_island_col2_center_back_link">
    <inertial>
      <mass value="1.0"/>
      <inertia ixx="0.0723" ixy="0" ixz="0" iyy="0.0675333333333" iyz="0" izz="0.00483333333333"/>
    </inertial>
    <visual>
      <origin rpy="0 0 0" xyz="-0.54 0 0"/>
      <geometry>
        <box size="0.02 0.9 0.24"/>
      </geometry>
      <material name="KitchenDarkGray"/>
    </visual>
    <collision>
      <origin rpy="0 0 0" xyz="-0.54 0 0"/>
      <geometry>
        <box size="0.02 0.9 0.24"/>
      </geometry>
    </collision>
  </link>
  <gazebo reference="drawer_island_col2_center_back_link">
    <material value="Ias/KitchenLightGray"/>
  </gazebo>
  <joint name="drawer_island_col2_center_bottom_fixed_joint" type="fixed">
    <origin rpy="0 0 0" xyz="0 0 0"/>
    <parent link="drawer_island_col2_center_link"/>
    <child link="drawer_island_col2_center_bottom_link"/>
  </joint>
  <link name="drawer_island_col2_center_bottom_link">
    <inertial>
      <mass value="1.0"/>
      <inertia ixx="0.0675333333333" ixy="0" ixz="0" iyy="0.0918" iyz="0" izz="0.0243333333333"/>
    </inertial>
    <visual>
      <origin rpy="0 0 0" xyz="-0.27 0 -0.11"/>
      <geometry>
        <box size="0.54 0.9 0.02"/>
      </geometry>
      <material name="KitchenDarkGray"/>
    </visual>
    <collision>
      <origin rpy="0 0 0" xyz="-0.27 0 -0.11"/>
      <geometry>
        <box size="0.54 0.9 0.02"/>
      </geometry>
    </collision>
  </link>
  <gazebo reference="drawer_island_col2_center_bottom_link">
    <material value="Ias/KitchenLightGray"/>
  </gazebo>
  <joint name="drawer_island_col2_center_handle_drawer_island_col2_center_joint" type="fixed">
    <origin rpy="0 0 0" xyz="0.0625 0.0 0.0925"/>
    <parent link="drawer_island_col2_center_link"/>
    <child link="handle_drawer_island_col2_center_link"/>
  </joint>
  <link name="handle_drawer_island_col2_center_link">
    <inertial>
      <mass value="0.1"/>
      <inertia ixx="0.00682604166667" ixy="0" ixz="0" iyy="0.00682604166667" iyz="0" izz="1.66666666667e-06"/>
    </inertial>
    <visual>
      <origin rpy="0 0 0" xyz="0 0 0"/>
      <geometry>
        <box size="0.01 0.905 0.01"/>
      </geometry>
      <material name="KitchenDarkGray"/>
    </visual>
    <collision>
      <origin rpy="0 0 0" xyz="0 0 0"/>
      <geometry>
        <box size="0.015 0.91 0.015"/>
      </geometry>
    </collision>
  </link>
  <gazebo reference="handle_drawer_island_col2_center_link">
    <material value="Ias/KitchenDarkGray"/>
  </gazebo>
  <joint name="island_block_drawer_island_col2_top_fixed_joint" type="fixed">
    <origin rpy="0 0 0" xyz="0.57 1.13 0.75"/>
    <parent link="island_block_link"/>
    <child link="drawer_island_col2_top_fixed_link"/>
  </joint>
  <link name="drawer_island_col2_top_fixed_link">
    <inertial>
      <mass value="1"/>
      <inertia ixx="4e-07" ixy="0" ixz="0" iyy="4e-07" iyz="0" izz="4e-07"/>
    </inertial>
  </link>
  <joint name="island_block_drawer_island_col2_top_joint" type="prismatic">
    <origin rpy="0 0 0" xyz="0 0 0"/>
    <parent link="drawer_island_col2_top_fixed_link"/>
    <child link="drawer_island_col2_top_link"/>
    <axis xyz="0.999 0 0.044"/>
    <!-- the axis needs to be slightly tilted so that the drawers would stay closed in Gazebo-->
    <limit effort="300" lower="0" upper="0.48" velocity="10"/>
  </joint>
  <gazebo reference="island_block_drawer_island_col2_top_joint">
    <erp>0.8</erp>
    <cfm>0.0000001</cfm>
    <stopKp>1000000.0</stopKp>
    <stopKd>1.0</stopKd>
  </gazebo>
  <link name="drawer_island_col2_top_link">
    <inertial>
      <mass value="1.0"/>
      <inertia ixx="0.0849666666667" ixy="0" ixz="0" iyy="0.0833666666667" iyz="0" izz="0.00166666666667"/>
    </inertial>
    <visual>
      <origin rpy="0 0 0" xyz="0 0 0"/>
      <geometry>
        <box size="0.02 0.995 0.135"/>
      </geometry>
      <material name="KitchenLightGray"/>
    </visual>
    <collision>
      <origin rpy="0 0 0" xyz="0 0 0"/>
      <geometry>
        <box size="0.02 1.0 0.14"/>
      </geometry>
    </collision>
  </link>
  <gazebo reference="drawer_island_col2_top_link">
    <material value="Ias/KitchenLightGray"/>
  </gazebo>
  <joint name="drawer_island_col2_top_left_fixed_joint" type="fixed">
    <origin rpy="0 0 0" xyz="0 0 0"/>
    <parent link="drawer_island_col2_top_link"/>
    <child link="drawer_island_col2_top_left_link"/>
  </joint>
  <link name="drawer_island_col2_top_left_link">
    <inertial>
      <mass value="1.0"/>
      <inertia ixx="0.000708333333333" ixy="0" ixz="0" iyy="0.0243333333333" iyz="0" izz="0.024975"/>
    </inertial>
    <visual>
      <origin rpy="0 0 0" xyz="-0.27 -0.44 0"/>
      <geometry>
        <box size="0.54 0.02 0.09"/>
      </geometry>
      <material name="KitchenDarkGray"/>
    </visual>
    <collision>
      <origin rpy="0 0 0" xyz="-0.27 -0.44 0"/>
      <geometry>
        <box size="0.54 0.02 0.09"/>
      </geometry>
    </collision>
  </link>
  <gazebo reference="drawer_island_col2_top_left_link">
    <material value="Ias/KitchenLightGray"/>
  </gazebo>
  <joint name="drawer_island_col2_top_right_fixed_joint" type="fixed">
    <origin rpy="0 0 0" xyz="0 0 0"/>
    <parent link="drawer_island_col2_top_link"/>
    <child link="drawer_island_col2_top_right_link"/>
  </joint>
  <link name="drawer_island_col2_top_right_link">
    <inertial>
      <mass value="1.0"/>
      <inertia ixx="0.000708333333333" ixy="0" ixz="0" iyy="0.0243333333333" iyz="0" izz="0.024975"/>
    </inertial>
    <visual>
      <origin rpy="0 0 0" xyz="-0.27 0.44 0"/>
      <geometry>
        <box size="0.54 0.02 0.09"/>
      </geometry>
      <material name="KitchenDarkGray"/>
    </visual>
    <collision>
      <origin rpy="0 0 0" xyz="-0.27 0.44 0"/>
      <geometry>
        <box size="0.54 0.02 0.09"/>
      </geometry>
    </collision>
  </link>
  <gazebo reference="drawer_island_col2_top_right_link">
    <material value="Ias/KitchenLightGray"/>
  </gazebo>
  <joint name="drawer_island_col2_top_back_fixed_joint" type="fixed">
    <origin rpy="0 0 0" xyz="0 0 0"/>
    <parent link="drawer_island_col2_top_link"/>
    <child link="drawer_island_col2_top_back_link"/>
  </joint>
  <link name="drawer_island_col2_top_back_link">
    <inertial>
      <mass value="1.0"/>
      <inertia ixx="0.068175" ixy="0" ixz="0" iyy="0.0675333333333" iyz="0" izz="0.000708333333333"/>
    </inertial>
    <visual>
      <origin rpy="0 0 0" xyz="-0.54 0 0"/>
      <geometry>
        <box size="0.02 0.9 0.09"/>
      </geometry>
      <material name="KitchenDarkGray"/>
    </visual>
    <collision>
      <origin rpy="0 0 0" xyz="-0.54 0 0"/>
      <geometry>
        <box size="0.02 0.9 0.09"/>
      </geometry>
    </collision>
  </link>
  <gazebo reference="drawer_island_col2_top_back_link">
    <material value="Ias/KitchenLightGray"/>
  </gazebo>
  <joint name="drawer_island_col2_top_bottom_fixed_joint" type="fixed">
    <origin rpy="0 0 0" xyz="0 0 0"/>
    <parent link="drawer_island_col2_top_link"/>
    <child link="drawer_island_col2_top_bottom_link"/>
  </joint>
  <link name="drawer_island_col2_top_bottom_link">
    <inertial>
      <mass value="1.0"/>
      <inertia ixx="0.0675333333333" ixy="0" ixz="0" iyy="0.0918" iyz="0" izz="0.0243333333333"/>
    </inertial>
    <visual>
      <origin rpy="0 0 0" xyz="-0.27 0 -0.035"/>
      <geometry>
        <box size="0.54 0.9 0.02"/>
      </geometry>
      <material name="KitchenDarkGray"/>
    </visual>
    <collision>
      <origin rpy="0 0 0" xyz="-0.27 0 -0.035"/>
      <geometry>
        <box size="0.54 0.9 0.02"/>
      </geometry>
    </collision>
  </link>
  <gazebo reference="drawer_island_col2_top_bottom_link">
    <material value="Ias/KitchenLightGray"/>
  </gazebo>
  <joint name="drawer_island_col2_top_handle_drawer_island_col2_top_joint" type="fixed">
    <origin rpy="0 0 0" xyz="0.0625 0.0 0.0175"/>
    <parent link="drawer_island_col2_top_link"/>
    <child link="handle_drawer_island_col2_top_link"/>
  </joint>
  <link name="handle_drawer_island_col2_top_link">
    <inertial>
      <mass value="0.1"/>
      <inertia ixx="0.00682604166667" ixy="0" ixz="0" iyy="0.00682604166667" iyz="0" izz="1.66666666667e-06"/>
    </inertial>
    <visual>
      <origin rpy="0 0 0" xyz="0 0 0"/>
      <geometry>
        <box size="0.01 0.905 0.01"/>
      </geometry>
      <material name="KitchenDarkGray"/>
    </visual>
    <collision>
      <origin rpy="0 0 0" xyz="0 0 0"/>
      <geometry>
        <box size="0.015 0.91 0.015"/>
      </geometry>
    </collision>
  </link>
  <gazebo reference="handle_drawer_island_col2_top_link">
    <material value="Ias/KitchenDarkGray"/>
  </gazebo>
  <joint name="island_block_drawer_island_col3_bottom_fixed_joint" type="fixed">
    <origin rpy="0 0 0" xyz="0.57 1.93 0.245"/>
    <parent link="island_block_link"/>
    <child link="drawer_island_col3_bottom_fixed_link"/>
  </joint>
  <link name="drawer_island_col3_bottom_fixed_link">
    <inertial>
      <mass value="1"/>
      <inertia ixx="4e-07" ixy="0" ixz="0" iyy="4e-07" iyz="0" izz="4e-07"/>
    </inertial>
  </link>
  <joint name="island_block_drawer_island_col3_bottom_joint" type="prismatic">
    <origin rpy="0 0 0" xyz="0 0 0"/>
    <parent link="drawer_island_col3_bottom_fixed_link"/>
    <child link="drawer_island_col3_bottom_link"/>
    <axis xyz="0.999 0 0.044"/>
    <!-- the axis needs to be slightly tilted so that the drawers would stay closed in Gazebo-->
    <limit effort="300" lower="0" upper="0.48" velocity="10"/>
  </joint>
  <gazebo reference="island_block_drawer_island_col3_bottom_joint">
    <erp>0.8</erp>
    <cfm>0.0000001</cfm>
    <stopKp>1000000.0</stopKp>
    <stopKd>1.0</stopKd>
  </gazebo>
  <link name="drawer_island_col3_bottom_link">
    <inertial>
      <mass value="1.0"/>
      <inertia ixx="0.0370083333333" ixy="0" ixz="0" iyy="0.0300333333333" iyz="0" izz="0.00704166666667"/>
    </inertial>
    <visual>
      <origin rpy="0 0 0" xyz="0 0 0"/>
      <geometry>
        <box size="0.02 0.595 0.285"/>
      </geometry>
      <material name="KitchenLightGray"/>
    </visual>
    <collision>
      <origin rpy="0 0 0" xyz="0 0 0"/>
      <geometry>
        <box size="0.02 0.6 0.29"/>
      </geometry>
    </collision>
  </link>
  <gazebo reference="drawer_island_col3_bottom_link">
    <material value="Ias/KitchenLightGray"/>
  </gazebo>
  <joint name="drawer_island_col3_bottom_left_fixed_joint" type="fixed">
    <origin rpy="0 0 0" xyz="0 0 0"/>
    <parent link="drawer_island_col3_bottom_link"/>
    <child link="drawer_island_col3_bottom_left_link"/>
  </joint>
  <link name="drawer_island_col3_bottom_left_link">
    <inertial>
      <mass value="1.0"/>
      <inertia ixx="0.00483333333333" ixy="0" ixz="0" iyy="0.0243333333333" iyz="0" izz="0.0291"/>
    </inertial>
    <visual>
      <origin rpy="0 0 0" xyz="-0.27 -0.24 0"/>
      <geometry>
        <box size="0.54 0.02 0.24"/>
      </geometry>
      <material name="KitchenDarkGray"/>
    </visual>
    <collision>
      <origin rpy="0 0 0" xyz="-0.27 -0.24 0"/>
      <geometry>
        <box size="0.54 0.02 0.24"/>
      </geometry>
    </collision>
  </link>
  <gazebo reference="drawer_island_col3_bottom_left_link">
    <material value="Ias/KitchenLightGray"/>
  </gazebo>
  <joint name="drawer_island_col3_bottom_right_fixed_joint" type="fixed">
    <origin rpy="0 0 0" xyz="0 0 0"/>
    <parent link="drawer_island_col3_bottom_link"/>
    <child link="drawer_island_col3_bottom_right_link"/>
  </joint>
  <link name="drawer_island_col3_bottom_right_link">
    <inertial>
      <mass value="1.0"/>
      <inertia ixx="0.00483333333333" ixy="0" ixz="0" iyy="0.0243333333333" iyz="0" izz="0.0291"/>
    </inertial>
    <visual>
      <origin rpy="0 0 0" xyz="-0.27 0.24 0"/>
      <geometry>
        <box size="0.54 0.02 0.24"/>
      </geometry>
      <material name="KitchenDarkGray"/>
    </visual>
    <collision>
      <origin rpy="0 0 0" xyz="-0.27 0.24 0"/>
      <geometry>
        <box size="0.54 0.02 0.24"/>
      </geometry>
    </collision>
  </link>
  <gazebo reference="drawer_island_col3_bottom_right_link">
    <material value="Ias/KitchenLightGray"/>
  </gazebo>
  <joint name="drawer_island_col3_bottom_back_fixed_joint" type="fixed">
    <origin rpy="0 0 0" xyz="0 0 0"/>
    <parent link="drawer_island_col3_bottom_link"/>
    <child link="drawer_island_col3_bottom_back_link"/>
  </joint>
  <link name="drawer_island_col3_bottom_back_link">
    <inertial>
      <mass value="1.0"/>
      <inertia ixx="0.0256333333333" ixy="0" ixz="0" iyy="0.0208666666667" iyz="0" izz="0.00483333333333"/>
    </inertial>
    <visual>
      <origin rpy="0 0 0" xyz="-0.54 0 0"/>
      <geometry>
        <box size="0.02 0.5 0.24"/>
      </geometry>
      <material name="KitchenDarkGray"/>
    </visual>
    <collision>
      <origin rpy="0 0 0" xyz="-0.54 0 0"/>
      <geometry>
        <box size="0.02 0.5 0.24"/>
      </geometry>
    </collision>
  </link>
  <gazebo reference="drawer_island_col3_bottom_back_link">
    <material value="Ias/KitchenLightGray"/>
  </gazebo>
  <joint name="drawer_island_col3_bottom_bottom_fixed_joint" type="fixed">
    <origin rpy="0 0 0" xyz="0 0 0"/>
    <parent link="drawer_island_col3_bottom_link"/>
    <child link="drawer_island_col3_bottom_bottom_link"/>
  </joint>
  <link name="drawer_island_col3_bottom_bottom_link">
    <inertial>
      <mass value="1.0"/>
      <inertia ixx="0.0208666666667" ixy="0" ixz="0" iyy="0.0451333333333" iyz="0" izz="0.0243333333333"/>
    </inertial>
    <visual>
      <origin rpy="0 0 0" xyz="-0.27 0 -0.11"/>
      <geometry>
        <box size="0.54 0.5 0.02"/>
      </geometry>
      <material name="KitchenDarkGray"/>
    </visual>
    <collision>
      <origin rpy="0 0 0" xyz="-0.27 0 -0.11"/>
      <geometry>
        <box size="0.54 0.5 0.02"/>
      </geometry>
    </collision>
  </link>
  <gazebo reference="drawer_island_col3_bottom_bottom_link">
    <material value="Ias/KitchenLightGray"/>
  </gazebo>
  <joint name="drawer_island_col3_bottom_handle_drawer_island_col3_bottom_joint" type="fixed">
    <origin rpy="0 0 0" xyz="0.0625 0.0 0.0925"/>
    <parent link="drawer_island_col3_bottom_link"/>
    <child link="handle_drawer_island_col3_bottom_link"/>
  </joint>
  <link name="handle_drawer_island_col3_bottom_link">
    <inertial>
      <mass value="0.1"/>
      <inertia ixx="0.00212604166667" ixy="0" ixz="0" iyy="0.00212604166667" iyz="0" izz="1.66666666667e-06"/>
    </inertial>
    <visual>
      <origin rpy="0 0 0" xyz="0 0 0"/>
      <geometry>
        <box size="0.01 0.505 0.01"/>
      </geometry>
      <material name="KitchenDarkGray"/>
    </visual>
    <collision>
      <origin rpy="0 0 0" xyz="0 0 0"/>
      <geometry>
        <box size="0.015 0.51 0.015"/>
      </geometry>
    </collision>
  </link>
  <gazebo reference="handle_drawer_island_col3_bottom_link">
    <material value="Ias/KitchenDarkGray"/>
  </gazebo>
  <joint name="island_block_drawer_island_col3_center_fixed_joint" type="fixed">
    <origin rpy="0 0 0" xyz="0.57 1.93 0.535"/>
    <parent link="island_block_link"/>
    <child link="drawer_island_col3_center_fixed_link"/>
  </joint>
  <link name="drawer_island_col3_center_fixed_link">
    <inertial>
      <mass value="1"/>
      <inertia ixx="4e-07" ixy="0" ixz="0" iyy="4e-07" iyz="0" izz="4e-07"/>
    </inertial>
  </link>
  <joint name="island_block_drawer_island_col3_center_joint" type="prismatic">
    <origin rpy="0 0 0" xyz="0 0 0"/>
    <parent link="drawer_island_col3_center_fixed_link"/>
    <child link="drawer_island_col3_center_link"/>
    <axis xyz="0.999 0 0.044"/>
    <!-- the axis needs to be slightly tilted so that the drawers would stay closed in Gazebo-->
    <limit effort="300" lower="0" upper="0.48" velocity="10"/>
  </joint>
  <gazebo reference="island_block_drawer_island_col3_center_joint">
    <erp>0.8</erp>
    <cfm>0.0000001</cfm>
    <stopKp>1000000.0</stopKp>
    <stopKd>1.0</stopKd>
  </gazebo>
  <link name="drawer_island_col3_center_link">
    <inertial>
      <mass value="1.0"/>
      <inertia ixx="0.0370083333333" ixy="0" ixz="0" iyy="0.0300333333333" iyz="0" izz="0.00704166666667"/>
    </inertial>
    <visual>
      <origin rpy="0 0 0" xyz="0 0 0"/>
      <geometry>
        <box size="0.02 0.595 0.285"/>
      </geometry>
      <material name="KitchenLightGray"/>
    </visual>
    <collision>
      <origin rpy="0 0 0" xyz="0 0 0"/>
      <geometry>
        <box size="0.02 0.6 0.29"/>
      </geometry>
    </collision>
  </link>
  <gazebo reference="drawer_island_col3_center_link">
    <material value="Ias/KitchenLightGray"/>
  </gazebo>
  <joint name="drawer_island_col3_center_left_fixed_joint" type="fixed">
    <origin rpy="0 0 0" xyz="0 0 0"/>
    <parent link="drawer_island_col3_center_link"/>
    <child link="drawer_island_col3_center_left_link"/>
  </joint>
  <link name="drawer_island_col3_center_left_link">
    <inertial>
      <mass value="1.0"/>
      <inertia ixx="0.00483333333333" ixy="0" ixz="0" iyy="0.0243333333333" iyz="0" izz="0.0291"/>
    </inertial>
    <visual>
      <origin rpy="0 0 0" xyz="-0.27 -0.24 0"/>
      <geometry>
        <box size="0.54 0.02 0.24"/>
      </geometry>
      <material name="KitchenDarkGray"/>
    </visual>
    <collision>
      <origin rpy="0 0 0" xyz="-0.27 -0.24 0"/>
      <geometry>
        <box size="0.54 0.02 0.24"/>
      </geometry>
    </collision>
  </link>
  <gazebo reference="drawer_island_col3_center_left_link">
    <material value="Ias/KitchenLightGray"/>
  </gazebo>
  <joint name="drawer_island_col3_center_right_fixed_joint" type="fixed">
    <origin rpy="0 0 0" xyz="0 0 0"/>
    <parent link="drawer_island_col3_center_link"/>
    <child link="drawer_island_col3_center_right_link"/>
  </joint>
  <link name="drawer_island_col3_center_right_link">
    <inertial>
      <mass value="1.0"/>
      <inertia ixx="0.00483333333333" ixy="0" ixz="0" iyy="0.0243333333333" iyz="0" izz="0.0291"/>
    </inertial>
    <visual>
      <origin rpy="0 0 0" xyz="-0.27 0.24 0"/>
      <geometry>
        <box size="0.54 0.02 0.24"/>
      </geometry>
      <material name="KitchenDarkGray"/>
    </visual>
    <collision>
      <origin rpy="0 0 0" xyz="-0.27 0.24 0"/>
      <geometry>
        <box size="0.54 0.02 0.24"/>
      </geometry>
    </collision>
  </link>
  <gazebo reference="drawer_island_col3_center_right_link">
    <material value="Ias/KitchenLightGray"/>
  </gazebo>
  <joint name="drawer_island_col3_center_back_fixed_joint" type="fixed">
    <origin rpy="0 0 0" xyz="0 0 0"/>
    <parent link="drawer_island_col3_center_link"/>
    <child link="drawer_island_col3_center_back_link"/>
  </joint>
  <link name="drawer_island_col3_center_back_link">
    <inertial>
      <mass value="1.0"/>
      <inertia ixx="0.0256333333333" ixy="0" ixz="0" iyy="0.0208666666667" iyz="0" izz="0.00483333333333"/>
    </inertial>
    <visual>
      <origin rpy="0 0 0" xyz="-0.54 0 0"/>
      <geometry>
        <box size="0.02 0.5 0.24"/>
      </geometry>
      <material name="KitchenDarkGray"/>
    </visual>
    <collision>
      <origin rpy="0 0 0" xyz="-0.54 0 0"/>
      <geometry>
        <box size="0.02 0.5 0.24"/>
      </geometry>
    </collision>
  </link>
  <gazebo reference="drawer_island_col3_center_back_link">
    <material value="Ias/KitchenLightGray"/>
  </gazebo>
  <joint name="drawer_island_col3_center_bottom_fixed_joint" type="fixed">
    <origin rpy="0 0 0" xyz="0 0 0"/>
    <parent link="drawer_island_col3_center_link"/>
    <child link="drawer_island_col3_center_bottom_link"/>
  </joint>
  <link name="drawer_island_col3_center_bottom_link">
    <inertial>
      <mass value="1.0"/>
      <inertia ixx="0.0208666666667" ixy="0" ixz="0" iyy="0.0451333333333" iyz="0" izz="0.0243333333333"/>
    </inertial>
    <visual>
      <origin rpy="0 0 0" xyz="-0.27 0 -0.11"/>
      <geometry>
        <box size="0.54 0.5 0.02"/>
      </geometry>
      <material name="KitchenDarkGray"/>
    </visual>
    <collision>
      <origin rpy="0 0 0" xyz="-0.27 0 -0.11"/>
      <geometry>
        <box size="0.54 0.5 0.02"/>
      </geometry>
    </collision>
  </link>
  <gazebo reference="drawer_island_col3_center_bottom_link">
    <material value="Ias/KitchenLightGray"/>
  </gazebo>
  <joint name="drawer_island_col3_center_handle_drawer_island_col3_center_joint" type="fixed">
    <origin rpy="0 0 0" xyz="0.0625 0.0 0.0925"/>
    <parent link="drawer_island_col3_center_link"/>
    <child link="handle_drawer_island_col3_center_link"/>
  </joint>
  <link name="handle_drawer_island_col3_center_link">
    <inertial>
      <mass value="0.1"/>
      <inertia ixx="0.00212604166667" ixy="0" ixz="0" iyy="0.00212604166667" iyz="0" izz="1.66666666667e-06"/>
    </inertial>
    <visual>
      <origin rpy="0 0 0" xyz="0 0 0"/>
      <geometry>
        <box size="0.01 0.505 0.01"/>
      </geometry>
      <material name="KitchenDarkGray"/>
    </visual>
    <collision>
      <origin rpy="0 0 0" xyz="0 0 0"/>
      <geometry>
        <box size="0.015 0.51 0.015"/>
      </geometry>
    </collision>
  </link>
  <gazebo reference="handle_drawer_island_col3_center_link">
    <material value="Ias/KitchenDarkGray"/>
  </gazebo>
  <joint name="island_block_drawer_island_col3_top_fixed_joint" type="fixed">
    <origin rpy="0 0 0" xyz="0.57 1.93 0.75"/>
    <parent link="island_block_link"/>
    <child link="drawer_island_col3_top_fixed_link"/>
  </joint>
  <link name="drawer_island_col3_top_fixed_link">
    <inertial>
      <mass value="1"/>
      <inertia ixx="4e-07" ixy="0" ixz="0" iyy="4e-07" iyz="0" izz="4e-07"/>
    </inertial>
  </link>
  <joint name="island_block_drawer_island_col3_top_joint" type="prismatic">
    <origin rpy="0 0 0" xyz="0 0 0"/>
    <parent link="drawer_island_col3_top_fixed_link"/>
    <child link="drawer_island_col3_top_link"/>
    <axis xyz="0.999 0 0.044"/>
    <!-- the axis needs to be slightly tilted so that the drawers would stay closed in Gazebo-->
    <limit effort="300" lower="0" upper="0.48" velocity="10"/>
  </joint>
  <gazebo reference="island_block_drawer_island_col3_top_joint">
    <erp>0.8</erp>
    <cfm>0.0000001</cfm>
    <stopKp>1000000.0</stopKp>
    <stopKd>1.0</stopKd>
  </gazebo>
  <link name="drawer_island_col3_top_link">
    <inertial>
      <mass value="1.0"/>
      <inertia ixx="0.0316333333333" ixy="0" ixz="0" iyy="0.0300333333333" iyz="0" izz="0.00166666666667"/>
    </inertial>
    <visual>
      <origin rpy="0 0 0" xyz="0 0 0"/>
      <geometry>
        <box size="0.02 0.595 0.135"/>
      </geometry>
      <material name="KitchenLightGray"/>
    </visual>
    <collision>
      <origin rpy="0 0 0" xyz="0 0 0"/>
      <geometry>
        <box size="0.02 0.6 0.14"/>
      </geometry>
    </collision>
  </link>
  <gazebo reference="drawer_island_col3_top_link">
    <material value="Ias/KitchenLightGray"/>
  </gazebo>
  <joint name="drawer_island_col3_top_left_fixed_joint" type="fixed">
    <origin rpy="0 0 0" xyz="0 0 0"/>
    <parent link="drawer_island_col3_top_link"/>
    <child link="drawer_island_col3_top_left_link"/>
  </joint>
  <link name="drawer_island_col3_top_left_link">
    <inertial>
      <mass value="1.0"/>
      <inertia ixx="0.000708333333333" ixy="0" ixz="0" iyy="0.0243333333333" iyz="0" izz="0.024975"/>
    </inertial>
    <visual>
      <origin rpy="0 0 0" xyz="-0.27 -0.24 0"/>
      <geometry>
        <box size="0.54 0.02 0.09"/>
      </geometry>
      <material name="KitchenDarkGray"/>
    </visual>
    <collision>
      <origin rpy="0 0 0" xyz="-0.27 -0.24 0"/>
      <geometry>
        <box size="0.54 0.02 0.09"/>
      </geometry>
    </collision>
  </link>
  <gazebo reference="drawer_island_col3_top_left_link">
    <material value="Ias/KitchenLightGray"/>
  </gazebo>
  <joint name="drawer_island_col3_top_right_fixed_joint" type="fixed">
    <origin rpy="0 0 0" xyz="0 0 0"/>
    <parent link="drawer_island_col3_top_link"/>
    <child link="drawer_island_col3_top_right_link"/>
  </joint>
  <link name="drawer_island_col3_top_right_link">
    <inertial>
      <mass value="1.0"/>
      <inertia ixx="0.000708333333333" ixy="0" ixz="0" iyy="0.0243333333333" iyz="0" izz="0.024975"/>
    </inertial>
    <visual>
      <origin rpy="0 0 0" xyz="-0.27 0.24 0"/>
      <geometry>
        <box size="0.54 0.02 0.09"/>
      </geometry>
      <material name="KitchenDarkGray"/>
    </visual>
    <collision>
      <origin rpy="0 0 0" xyz="-0.27 0.24 0"/>
      <geometry>
        <box size="0.54 0.02 0.09"/>
      </geometry>
    </collision>
  </link>
  <gazebo reference="drawer_island_col3_top_right_link">
    <material value="Ias/KitchenLightGray"/>
  </gazebo>
  <joint name="drawer_island_col3_top_back_fixed_joint" type="fixed">
    <origin rpy="0 0 0" xyz="0 0 0"/>
    <parent link="drawer_island_col3_top_link"/>
    <child link="drawer_island_col3_top_back_link"/>
  </joint>
  <link name="drawer_island_col3_top_back_link">
    <inertial>
      <mass value="1.0"/>
      <inertia ixx="0.0215083333333" ixy="0" ixz="0" iyy="0.0208666666667" iyz="0" izz="0.000708333333333"/>
    </inertial>
    <visual>
      <origin rpy="0 0 0" xyz="-0.54 0 0"/>
      <geometry>
        <box size="0.02 0.5 0.09"/>
      </geometry>
      <material name="KitchenDarkGray"/>
    </visual>
    <collision>
      <origin rpy="0 0 0" xyz="-0.54 0 0"/>
      <geometry>
        <box size="0.02 0.5 0.09"/>
      </geometry>
    </collision>
  </link>
  <gazebo reference="drawer_island_col3_top_back_link">
    <material value="Ias/KitchenLightGray"/>
  </gazebo>
  <joint name="drawer_island_col3_top_bottom_fixed_joint" type="fixed">
    <origin rpy="0 0 0" xyz="0 0 0"/>
    <parent link="drawer_island_col3_top_link"/>
    <child link="drawer_island_col3_top_bottom_link"/>
  </joint>
  <link name="drawer_island_col3_top_bottom_link">
    <inertial>
      <mass value="1.0"/>
      <inertia ixx="0.0208666666667" ixy="0" ixz="0" iyy="0.0451333333333" iyz="0" izz="0.0243333333333"/>
    </inertial>
    <visual>
      <origin rpy="0 0 0" xyz="-0.27 0 -0.035"/>
      <geometry>
        <box size="0.54 0.5 0.02"/>
      </geometry>
      <material name="KitchenDarkGray"/>
    </visual>
    <collision>
      <origin rpy="0 0 0" xyz="-0.27 0 -0.035"/>
      <geometry>
        <box size="0.54 0.5 0.02"/>
      </geometry>
    </collision>
  </link>
  <gazebo reference="drawer_island_col3_top_bottom_link">
    <material value="Ias/KitchenLightGray"/>
  </gazebo>
  <joint name="drawer_island_col3_top_handle_drawer_island_col3_top_joint" type="fixed">
    <origin rpy="0 0 0" xyz="0.0625 0.0 0.0175"/>
    <parent link="drawer_island_col3_top_link"/>
    <child link="handle_drawer_island_col3_top_link"/>
  </joint>
  <link name="handle_drawer_island_col3_top_link">
    <inertial>
      <mass value="0.1"/>
      <inertia ixx="0.00212604166667" ixy="0" ixz="0" iyy="0.00212604166667" iyz="0" izz="1.66666666667e-06"/>
    </inertial>
    <visual>
      <origin rpy="0 0 0" xyz="0 0 0"/>
      <geometry>
        <box size="0.01 0.505 0.01"/>
      </geometry>
      <material name="KitchenDarkGray"/>
    </visual>
    <collision>
      <origin rpy="0 0 0" xyz="0 0 0"/>
      <geometry>
        <box size="0.015 0.51 0.015"/>
      </geometry>
    </collision>
  </link>
  <gazebo reference="handle_drawer_island_col3_top_link">
    <material value="Ias/KitchenDarkGray"/>
  </gazebo>
  <joint name="island_block_skirting_island_joint" type="fixed">
    <origin rpy="0 0 0" xyz="0.275 1.13 0.05"/>
    <parent link="island_block_link"/>
    <child link="skirting_island_link"/>
  </joint>
  <link name="skirting_island_link">
    <inertial>
      <mass value="10"/>
      <inertia ixx="4.04166666667" ixy="0" ixz="0" iyy="4.25008333333" iyz="0" izz="0.225083333333"/>
    </inertial>
    <visual>
      <origin rpy="0 0 0" xyz="0 0 0"/>
      <geometry>
        <box size="0.51 2.2 0.1"/>
      </geometry>
      <material name="KitchenDarkGray"/>
    </visual>
    <collision>
      <origin rpy="0 0 0" xyz="0 0 0"/>
      <geometry>
        <box size="0.51 2.2 0.1"/>
      </geometry>
    </collision>
  </link>
  <gazebo reference="skirting_island_link">
    <material value="Ias/KitchenDarkGray"/>
  </gazebo>
  <joint name="island_block_joint" type="fixed">
    <origin rpy="0 0 3.141" xyz="-2.1 -4.94 0"/>
    <parent link="kitchen_link"/>
    <child link="island_block_link"/>
  </joint>
  <link name="island_block_link">
    <inertial>
      <mass value="0"/>
      <inertia ixx="0.0" ixy="0" ixz="0" iyy="0.0" iyz="0" izz="0.0"/>
    </inertial>
    <visual>
      <origin rpy="0 0 0" xyz="0 0 0"/>
      <geometry>
        <box size=".1 .1 .1"/>
      </geometry>
    </visual>
  </link>
  <joint name="oven_block_counter_top_oven_joint" type="fixed">
    <origin rpy="0 0 0" xyz="0.29 0.6 1.495"/>
    <parent link="oven_block_link"/>
    <child link="counter_top_oven_link"/>
  </joint>
  <link name="counter_top_oven_link">
    <inertial>
      <mass value="2.0"/>
      <inertia ixx="0.24015" ixy="0" ixz="0" iyy="0.296066666667" iyz="0" izz="0.0562166666667"/>
    </inertial>
    <visual>
      <origin rpy="0 0 0" xyz="0 0 0"/>
      <geometry>
        <box size="0.58 1.2 0.03"/>
      </geometry>
      <material name="KitchenDarkGray"/>
    </visual>
    <collision>
      <origin rpy="0 0 0" xyz="0 0 0"/>
      <geometry>
        <box size="0.58 1.2 0.03"/>
      </geometry>
    </collision>
  </link>
  <gazebo reference="counter_top_oven_link">
    <kp>100000</kp>
    <kd>1000000</kd>
    <mu1>50000</mu1>
    <mu2>50000</mu2>
    <material value="Ias/KitchenDarkGray"/>
  </gazebo>
  <joint name="oven_block_drawer_oven_left_fixed_joint" type="fixed">
    <origin rpy="0 0 0" xyz="0.29 0.15 0.815"/>
    <parent link="oven_block_link"/>
    <child link="drawer_oven_left_fixed_link"/>
  </joint>
  <link name="drawer_oven_left_fixed_link">
    <inertial>
      <mass value="0.1"/>
      <inertia ixx="4e-08" ixy="0" ixz="0" iyy="4e-08" iyz="0" izz="4e-08"/>
    </inertial>
  </link>
  <joint name="oven_block_drawer_oven_left_joint" type="prismatic">
    <origin rpy="0 0 0" xyz="0 0 0"/>
    <parent link="drawer_oven_left_fixed_link"/>
    <child link="drawer_oven_left_link"/>
    <axis xyz="0.999 0 0.044"/>
    <!-- the axis needs to be slightly tilted so that the drawers would stay closed in Gazebo-->
    <limit effort="300" lower="0" upper="0.48" velocity="10"/>
  </joint>
  <link name="drawer_oven_left_link">
    <inertial>
      <mass value="1.0"/>
      <inertia ixx="0.153554166667" ixy="0" ixz="0" iyy="0.0348041666667" iyz="0" izz="0.173854166667"/>
    </inertial>
    <visual>
      <origin rpy="0 0 0" xyz="0 0 0"/>
      <geometry>
        <box size="0.575 0.295 1.325"/>
      </geometry>
      <material name="KitchenLightGray"/>
    </visual>
    <collision>
      <origin rpy="0 0 0" xyz="0 0 0"/>
      <geometry>
        <box size="0.58 0.3 1.33"/>
      </geometry>
    </collision>
  </link>
  <gazebo reference="drawer_oven_left_link">
    <material value="Ias/KitchenLightGray"/>
  </gazebo>
  <joint name="drawer_oven_left_handle_drawer_oven_left_joint" type="fixed">
    <origin rpy="0 0 0" xyz="0.3525 0.0 0.0"/>
    <parent link="drawer_oven_left_link"/>
    <child link="handle_drawer_oven_left_link"/>
  </joint>
  <link name="handle_drawer_oven_left_link">
    <inertial>
      <mass value="0.1"/>
      <inertia ixx="0.0127110416667" ixy="0" ixz="0" iyy="1.66666666667e-06" iyz="0" izz="0.0127110416667"/>
    </inertial>
    <visual>
      <origin rpy="0 0 0" xyz="0 0 0"/>
      <geometry>
        <box size="0.01 0.01 1.235"/>
      </geometry>
      <material name="KitchenDarkGray"/>
    </visual>
    <collision>
      <origin rpy="0 0 0" xyz="0 0 0"/>
      <geometry>
        <box size="0.015 0.015 1.24"/>
      </geometry>
    </collision>
  </link>
  <gazebo reference="handle_drawer_oven_left_link">
    <material value="Ias/KitchenDarkGray"/>
  </gazebo>
  <joint name="oven_block_drawer_oven_bottom_fixed_joint" type="fixed">
    <origin rpy="0 0 0" xyz="0.57 0.6 0.44"/>
    <parent link="oven_block_link"/>
    <child link="drawer_oven_bottom_fixed_link"/>
  </joint>
  <link name="drawer_oven_bottom_fixed_link">
    <inertial>
      <mass value="1"/>
      <inertia ixx="4e-07" ixy="0" ixz="0" iyy="4e-07" iyz="0" izz="4e-07"/>
    </inertial>
  </link>
  <joint name="oven_block_drawer_oven_bottom_joint" type="prismatic">
    <origin rpy="0 0 0" xyz="0 0 0"/>
    <parent link="drawer_oven_bottom_fixed_link"/>
    <child link="drawer_oven_bottom_link"/>
    <axis xyz="0.999 0 0.044"/>
    <!-- the axis needs to be slightly tilted so that the drawers would stay closed in Gazebo-->
    <limit effort="300" lower="0" upper="0.48" velocity="10"/>
  </joint>
  <gazebo reference="oven_block_drawer_oven_bottom_joint">
    <erp>0.8</erp>
    <cfm>0.0000001</cfm>
    <stopKp>1000000.0</stopKp>
    <stopKd>1.0</stopKd>
  </gazebo>
  <link name="drawer_oven_bottom_link">
    <inertial>
      <mass value="1.0"/>
      <inertia ixx="0.0580333333333" ixy="0" ixz="0" iyy="0.0300333333333" iyz="0" izz="0.0280666666667"/>
    </inertial>
    <visual>
      <origin rpy="0 0 0" xyz="0 0 0"/>
      <geometry>
        <box size="0.02 0.595 0.575"/>
      </geometry>
      <material name="KitchenLightGray"/>
    </visual>
    <collision>
      <origin rpy="0 0 0" xyz="0 0 0"/>
      <geometry>
        <box size="0.02 0.6 0.58"/>
      </geometry>
    </collision>
  </link>
  <gazebo reference="drawer_oven_bottom_link">
    <material value="Ias/KitchenLightGray"/>
  </gazebo>
  <joint name="drawer_oven_bottom_left_fixed_joint" type="fixed">
    <origin rpy="0 0 0" xyz="0 0 0"/>
    <parent link="drawer_oven_bottom_link"/>
    <child link="drawer_oven_bottom_left_link"/>
  </joint>
  <link name="drawer_oven_bottom_left_link">
    <inertial>
      <mass value="1.0"/>
      <inertia ixx="0.0234416666667" ixy="0" ixz="0" iyy="0.0243333333333" iyz="0" izz="0.0477083333333"/>
    </inertial>
    <visual>
      <origin rpy="0 0 0" xyz="-0.27 -0.24 0"/>
      <geometry>
        <box size="0.54 0.02 0.53"/>
      </geometry>
      <material name="KitchenDarkGray"/>
    </visual>
    <collision>
      <origin rpy="0 0 0" xyz="-0.27 -0.24 0"/>
      <geometry>
        <box size="0.54 0.02 0.53"/>
      </geometry>
    </collision>
  </link>
  <gazebo reference="drawer_oven_bottom_left_link">
    <material value="Ias/KitchenLightGray"/>
  </gazebo>
  <joint name="drawer_oven_bottom_right_fixed_joint" type="fixed">
    <origin rpy="0 0 0" xyz="0 0 0"/>
    <parent link="drawer_oven_bottom_link"/>
    <child link="drawer_oven_bottom_right_link"/>
  </joint>
  <link name="drawer_oven_bottom_right_link">
    <inertial>
      <mass value="1.0"/>
      <inertia ixx="0.0234416666667" ixy="0" ixz="0" iyy="0.0243333333333" iyz="0" izz="0.0477083333333"/>
    </inertial>
    <visual>
      <origin rpy="0 0 0" xyz="-0.27 0.24 0"/>
      <geometry>
        <box size="0.54 0.02 0.53"/>
      </geometry>
      <material name="KitchenDarkGray"/>
    </visual>
    <collision>
      <origin rpy="0 0 0" xyz="-0.27 0.24 0"/>
      <geometry>
        <box size="0.54 0.02 0.53"/>
      </geometry>
    </collision>
  </link>
  <gazebo reference="drawer_oven_bottom_right_link">
    <material value="Ias/KitchenLightGray"/>
  </gazebo>
  <joint name="drawer_oven_bottom_back_fixed_joint" type="fixed">
    <origin rpy="0 0 0" xyz="0 0 0"/>
    <parent link="drawer_oven_bottom_link"/>
    <child link="drawer_oven_bottom_back_link"/>
  </joint>
  <link name="drawer_oven_bottom_back_link">
    <inertial>
      <mass value="1.0"/>
      <inertia ixx="0.0442416666667" ixy="0" ixz="0" iyy="0.0208666666667" iyz="0" izz="0.0234416666667"/>
    </inertial>
    <visual>
      <origin rpy="0 0 0" xyz="-0.54 0 0"/>
      <geometry>
        <box size="0.02 0.5 0.53"/>
      </geometry>
      <material name="KitchenDarkGray"/>
    </visual>
    <collision>
      <origin rpy="0 0 0" xyz="-0.54 0 0"/>
      <geometry>
        <box size="0.02 0.5 0.53"/>
      </geometry>
    </collision>
  </link>
  <gazebo reference="drawer_oven_bottom_back_link">
    <material value="Ias/KitchenLightGray"/>
  </gazebo>
  <joint name="drawer_oven_bottom_bottom_fixed_joint" type="fixed">
    <origin rpy="0 0 0" xyz="0 0 0"/>
    <parent link="drawer_oven_bottom_link"/>
    <child link="drawer_oven_bottom_bottom_link"/>
  </joint>
  <link name="drawer_oven_bottom_bottom_link">
    <inertial>
      <mass value="1.0"/>
      <inertia ixx="0.0208666666667" ixy="0" ixz="0" iyy="0.0451333333333" iyz="0" izz="0.0243333333333"/>
    </inertial>
    <visual>
      <origin rpy="0 0 0" xyz="-0.27 0 -0.255"/>
      <geometry>
        <box size="0.54 0.5 0.02"/>
      </geometry>
      <material name="KitchenDarkGray"/>
    </visual>
    <collision>
      <origin rpy="0 0 0" xyz="-0.27 0 -0.255"/>
      <geometry>
        <box size="0.54 0.5 0.02"/>
      </geometry>
    </collision>
  </link>
  <gazebo reference="drawer_oven_bottom_bottom_link">
    <material value="Ias/KitchenLightGray"/>
  </gazebo>
  <joint name="drawer_oven_bottom_handle_drawer_oven_bottom_joint" type="fixed">
    <origin rpy="0 0 0" xyz="0.0625 0.0 0.2375"/>
    <parent link="drawer_oven_bottom_link"/>
    <child link="handle_drawer_oven_bottom_link"/>
  </joint>
  <link name="handle_drawer_oven_bottom_link">
    <inertial>
      <mass value="0.1"/>
      <inertia ixx="0.00212604166667" ixy="0" ixz="0" iyy="0.00212604166667" iyz="0" izz="1.66666666667e-06"/>
    </inertial>
    <visual>
      <origin rpy="0 0 0" xyz="0 0 0"/>
      <geometry>
        <box size="0.01 0.505 0.01"/>
      </geometry>
      <material name="KitchenDarkGray"/>
    </visual>
    <collision>
      <origin rpy="0 0 0" xyz="0 0 0"/>
      <geometry>
        <box size="0.015 0.51 0.015"/>
      </geometry>
    </collision>
  </link>
  <gazebo reference="handle_drawer_oven_bottom_link">
    <material value="Ias/KitchenDarkGray"/>
  </gazebo>
  <joint name="oven_block_drawer_oven_center_fixed_joint" type="fixed">
    <origin rpy="0 0 0" xyz="0.57 0.6 0.8"/>
    <parent link="oven_block_link"/>
    <child link="drawer_oven_center_fixed_link"/>
  </joint>
  <link name="drawer_oven_center_fixed_link">
    <inertial>
      <mass value="1"/>
      <inertia ixx="4e-07" ixy="0" ixz="0" iyy="4e-07" iyz="0" izz="4e-07"/>
    </inertial>
  </link>
  <joint name="oven_block_drawer_oven_center_joint" type="prismatic">
    <origin rpy="0 0 0" xyz="0 0 0"/>
    <parent link="drawer_oven_center_fixed_link"/>
    <child link="drawer_oven_center_link"/>
    <axis xyz="0.999 0 0.044"/>
    <!-- the axis needs to be slightly tilted so that the drawers would stay closed in Gazebo-->
    <limit effort="300" lower="0" upper="0.48" velocity="10"/>
  </joint>
  <gazebo reference="oven_block_drawer_oven_center_joint">
    <erp>0.8</erp>
    <cfm>0.0000001</cfm>
    <stopKp>1000000.0</stopKp>
    <stopKd>1.0</stopKd>
  </gazebo>
  <link name="drawer_oven_center_link">
    <inertial>
      <mass value="1.0"/>
      <inertia ixx="0.0316333333333" ixy="0" ixz="0" iyy="0.0300333333333" iyz="0" izz="0.00166666666667"/>
    </inertial>
    <visual>
      <origin rpy="0 0 0" xyz="0 0 0"/>
      <geometry>
        <box size="0.02 0.595 0.135"/>
      </geometry>
      <material name="KitchenLightGray"/>
    </visual>
    <collision>
      <origin rpy="0 0 0" xyz="0 0 0"/>
      <geometry>
        <box size="0.02 0.6 0.14"/>
      </geometry>
    </collision>
  </link>
  <gazebo reference="drawer_oven_center_link">
    <material value="Ias/KitchenLightGray"/>
  </gazebo>
  <joint name="drawer_oven_center_left_fixed_joint" type="fixed">
    <origin rpy="0 0 0" xyz="0 0 0"/>
    <parent link="drawer_oven_center_link"/>
    <child link="drawer_oven_center_left_link"/>
  </joint>
  <link name="drawer_oven_center_left_link">
    <inertial>
      <mass value="1.0"/>
      <inertia ixx="0.000708333333333" ixy="0" ixz="0" iyy="0.0243333333333" iyz="0" izz="0.024975"/>
    </inertial>
    <visual>
      <origin rpy="0 0 0" xyz="-0.27 -0.24 0"/>
      <geometry>
        <box size="0.54 0.02 0.09"/>
      </geometry>
      <material name="KitchenDarkGray"/>
    </visual>
    <collision>
      <origin rpy="0 0 0" xyz="-0.27 -0.24 0"/>
      <geometry>
        <box size="0.54 0.02 0.09"/>
      </geometry>
    </collision>
  </link>
  <gazebo reference="drawer_oven_center_left_link">
    <material value="Ias/KitchenLightGray"/>
  </gazebo>
  <joint name="drawer_oven_center_right_fixed_joint" type="fixed">
    <origin rpy="0 0 0" xyz="0 0 0"/>
    <parent link="drawer_oven_center_link"/>
    <child link="drawer_oven_center_right_link"/>
  </joint>
  <link name="drawer_oven_center_right_link">
    <inertial>
      <mass value="1.0"/>
      <inertia ixx="0.000708333333333" ixy="0" ixz="0" iyy="0.0243333333333" iyz="0" izz="0.024975"/>
    </inertial>
    <visual>
      <origin rpy="0 0 0" xyz="-0.27 0.24 0"/>
      <geometry>
        <box size="0.54 0.02 0.09"/>
      </geometry>
      <material name="KitchenDarkGray"/>
    </visual>
    <collision>
      <origin rpy="0 0 0" xyz="-0.27 0.24 0"/>
      <geometry>
        <box size="0.54 0.02 0.09"/>
      </geometry>
    </collision>
  </link>
  <gazebo reference="drawer_oven_center_right_link">
    <material value="Ias/KitchenLightGray"/>
  </gazebo>
  <joint name="drawer_oven_center_back_fixed_joint" type="fixed">
    <origin rpy="0 0 0" xyz="0 0 0"/>
    <parent link="drawer_oven_center_link"/>
    <child link="drawer_oven_center_back_link"/>
  </joint>
  <link name="drawer_oven_center_back_link">
    <inertial>
      <mass value="1.0"/>
      <inertia ixx="0.0215083333333" ixy="0" ixz="0" iyy="0.0208666666667" iyz="0" izz="0.000708333333333"/>
    </inertial>
    <visual>
      <origin rpy="0 0 0" xyz="-0.54 0 0"/>
      <geometry>
        <box size="0.02 0.5 0.09"/>
      </geometry>
      <material name="KitchenDarkGray"/>
    </visual>
    <collision>
      <origin rpy="0 0 0" xyz="-0.54 0 0"/>
      <geometry>
        <box size="0.02 0.5 0.09"/>
      </geometry>
    </collision>
  </link>
  <gazebo reference="drawer_oven_center_back_link">
    <material value="Ias/KitchenLightGray"/>
  </gazebo>
  <joint name="drawer_oven_center_bottom_fixed_joint" type="fixed">
    <origin rpy="0 0 0" xyz="0 0 0"/>
    <parent link="drawer_oven_center_link"/>
    <child link="drawer_oven_center_bottom_link"/>
  </joint>
  <link name="drawer_oven_center_bottom_link">
    <inertial>
      <mass value="1.0"/>
      <inertia ixx="0.0208666666667" ixy="0" ixz="0" iyy="0.0451333333333" iyz="0" izz="0.0243333333333"/>
    </inertial>
    <visual>
      <origin rpy="0 0 0" xyz="-0.27 0 -0.035"/>
      <geometry>
        <box size="0.54 0.5 0.02"/>
      </geometry>
      <material name="KitchenDarkGray"/>
    </visual>
    <collision>
      <origin rpy="0 0 0" xyz="-0.27 0 -0.035"/>
      <geometry>
        <box size="0.54 0.5 0.02"/>
      </geometry>
    </collision>
  </link>
  <gazebo reference="drawer_oven_center_bottom_link">
    <material value="Ias/KitchenLightGray"/>
  </gazebo>
  <joint name="drawer_oven_center_handle_drawer_oven_center_joint" type="fixed">
    <origin rpy="0 0 0" xyz="0.0625 0.0 0.0175"/>
    <parent link="drawer_oven_center_link"/>
    <child link="handle_drawer_oven_center_link"/>
  </joint>
  <link name="handle_drawer_oven_center_link">
    <inertial>
      <mass value="0.1"/>
      <inertia ixx="0.00212604166667" ixy="0" ixz="0" iyy="0.00212604166667" iyz="0" izz="1.66666666667e-06"/>
    </inertial>
    <visual>
      <origin rpy="0 0 0" xyz="0 0 0"/>
      <geometry>
        <box size="0.01 0.505 0.01"/>
      </geometry>
      <material name="KitchenDarkGray"/>
    </visual>
    <collision>
      <origin rpy="0 0 0" xyz="0 0 0"/>
      <geometry>
        <box size="0.015 0.51 0.015"/>
      </geometry>
    </collision>
  </link>
  <gazebo reference="handle_drawer_oven_center_link">
    <material value="Ias/KitchenDarkGray"/>
  </gazebo>
  <joint name="oven_block_drawer_oven_oven_fixed_joint" type="fixed">
    <origin rpy="0 0 0" xyz="0.57 0.6 1.17"/>
    <parent link="oven_block_link"/>
    <child link="drawer_oven_oven_fixed_link"/>
  </joint>
  <link name="drawer_oven_oven_fixed_link">
    <inertial>
      <mass value="1"/>
      <inertia ixx="4e-07" ixy="0" ixz="0" iyy="4e-07" iyz="0" izz="4e-07"/>
    </inertial>
  </link>
  <joint name="oven_block_drawer_oven_oven_joint" type="prismatic">
    <origin rpy="0 0 0" xyz="0 0 0"/>
    <parent link="drawer_oven_oven_fixed_link"/>
    <child link="drawer_oven_oven_link"/>
    <axis xyz="0.999 0 0.044"/>
    <!-- the axis needs to be slightly tilted so that the drawers would stay closed in Gazebo-->
    <limit effort="300" lower="0" upper="0.48" velocity="10"/>
  </joint>
  <gazebo reference="oven_block_drawer_oven_oven_joint">
    <erp>0.8</erp>
    <cfm>0.0000001</cfm>
    <stopKp>1000000.0</stopKp>
    <stopKd>1.0</stopKd>
  </gazebo>
  <link name="drawer_oven_oven_link">
    <inertial>
      <mass value="1.0"/>
      <inertia ixx="0.0620333333333" ixy="0" ixz="0" iyy="0.0300333333333" iyz="0" izz="0.0320666666667"/>
    </inertial>
    <visual>
      <origin rpy="0 0 0" xyz="0 0 0"/>
      <geometry>
        <box size="0.02 0.595 0.615"/>
      </geometry>
      <material name="KitchenLightGray"/>
    </visual>
    <collision>
      <origin rpy="0 0 0" xyz="0 0 0"/>
      <geometry>
        <box size="0.02 0.6 0.62"/>
      </geometry>
    </collision>
  </link>
  <gazebo reference="drawer_oven_oven_link">
    <material value="Ias/KitchenLightGray"/>
  </gazebo>
  <joint name="drawer_oven_oven_left_fixed_joint" type="fixed">
    <origin rpy="0 0 0" xyz="0 0 0"/>
    <parent link="drawer_oven_oven_link"/>
    <child link="drawer_oven_oven_left_link"/>
  </joint>
  <link name="drawer_oven_oven_left_link">
    <inertial>
      <mass value="1.0"/>
      <inertia ixx="0.0271083333333" ixy="0" ixz="0" iyy="0.0243333333333" iyz="0" izz="0.051375"/>
    </inertial>
    <visual>
      <origin rpy="0 0 0" xyz="-0.27 -0.24 0"/>
      <geometry>
        <box size="0.54 0.02 0.57"/>
      </geometry>
      <material name="KitchenDarkGray"/>
    </visual>
    <collision>
      <origin rpy="0 0 0" xyz="-0.27 -0.24 0"/>
      <geometry>
        <box size="0.54 0.02 0.57"/>
      </geometry>
    </collision>
  </link>
  <gazebo reference="drawer_oven_oven_left_link">
    <material value="Ias/KitchenLightGray"/>
  </gazebo>
  <joint name="drawer_oven_oven_right_fixed_joint" type="fixed">
    <origin rpy="0 0 0" xyz="0 0 0"/>
    <parent link="drawer_oven_oven_link"/>
    <child link="drawer_oven_oven_right_link"/>
  </joint>
  <link name="drawer_oven_oven_right_link">
    <inertial>
      <mass value="1.0"/>
      <inertia ixx="0.0271083333333" ixy="0" ixz="0" iyy="0.0243333333333" iyz="0" izz="0.051375"/>
    </inertial>
    <visual>
      <origin rpy="0 0 0" xyz="-0.27 0.24 0"/>
      <geometry>
        <box size="0.54 0.02 0.57"/>
      </geometry>
      <material name="KitchenDarkGray"/>
    </visual>
    <collision>
      <origin rpy="0 0 0" xyz="-0.27 0.24 0"/>
      <geometry>
        <box size="0.54 0.02 0.57"/>
      </geometry>
    </collision>
  </link>
  <gazebo reference="drawer_oven_oven_right_link">
    <material value="Ias/KitchenLightGray"/>
  </gazebo>
  <joint name="drawer_oven_oven_back_fixed_joint" type="fixed">
    <origin rpy="0 0 0" xyz="0 0 0"/>
    <parent link="drawer_oven_oven_link"/>
    <child link="drawer_oven_oven_back_link"/>
  </joint>
  <link name="drawer_oven_oven_back_link">
    <inertial>
      <mass value="1.0"/>
      <inertia ixx="0.0479083333333" ixy="0" ixz="0" iyy="0.0208666666667" iyz="0" izz="0.0271083333333"/>
    </inertial>
    <visual>
      <origin rpy="0 0 0" xyz="-0.54 0 0"/>
      <geometry>
        <box size="0.02 0.5 0.57"/>
      </geometry>
      <material name="KitchenDarkGray"/>
    </visual>
    <collision>
      <origin rpy="0 0 0" xyz="-0.54 0 0"/>
      <geometry>
        <box size="0.02 0.5 0.57"/>
      </geometry>
    </collision>
  </link>
  <gazebo reference="drawer_oven_oven_back_link">
    <material value="Ias/KitchenLightGray"/>
  </gazebo>
  <joint name="drawer_oven_oven_bottom_fixed_joint" type="fixed">
    <origin rpy="0 0 0" xyz="0 0 0"/>
    <parent link="drawer_oven_oven_link"/>
    <child link="drawer_oven_oven_bottom_link"/>
  </joint>
  <link name="drawer_oven_oven_bottom_link">
    <inertial>
      <mass value="1.0"/>
      <inertia ixx="0.0208666666667" ixy="0" ixz="0" iyy="0.0451333333333" iyz="0" izz="0.0243333333333"/>
    </inertial>
    <visual>
      <origin rpy="0 0 0" xyz="-0.27 0 -0.275"/>
      <geometry>
        <box size="0.54 0.5 0.02"/>
      </geometry>
      <material name="KitchenDarkGray"/>
    </visual>
    <collision>
      <origin rpy="0 0 0" xyz="-0.27 0 -0.275"/>
      <geometry>
        <box size="0.54 0.5 0.02"/>
      </geometry>
    </collision>
  </link>
  <gazebo reference="drawer_oven_oven_bottom_link">
    <material value="Ias/KitchenLightGray"/>
  </gazebo>
  <joint name="drawer_oven_oven_handle_drawer_oven_oven_joint" type="fixed">
    <origin rpy="0 0 0" xyz="0.0625 0.0 0.2575"/>
    <parent link="drawer_oven_oven_link"/>
    <child link="handle_drawer_oven_oven_link"/>
  </joint>
  <link name="handle_drawer_oven_oven_link">
    <inertial>
      <mass value="0.1"/>
      <inertia ixx="0.00212604166667" ixy="0" ixz="0" iyy="0.00212604166667" iyz="0" izz="1.66666666667e-06"/>
    </inertial>
    <visual>
      <origin rpy="0 0 0" xyz="0 0 0"/>
      <geometry>
        <box size="0.01 0.505 0.01"/>
      </geometry>
      <material name="KitchenDarkGray"/>
    </visual>
    <collision>
      <origin rpy="0 0 0" xyz="0 0 0"/>
      <geometry>
        <box size="0.015 0.51 0.015"/>
      </geometry>
    </collision>
  </link>
  <gazebo reference="handle_drawer_oven_oven_link">
    <material value="Ias/KitchenDarkGray"/>
  </gazebo>
  <joint name="oven_block_drawer_oven_right_fixed_joint" type="fixed">
    <origin rpy="0 0 0" xyz="0.29 1.05 0.815"/>
    <parent link="oven_block_link"/>
    <child link="drawer_oven_right_fixed_link"/>
  </joint>
  <link name="drawer_oven_right_fixed_link">
    <inertial>
      <mass value="0.1"/>
      <inertia ixx="4e-08" ixy="0" ixz="0" iyy="4e-08" iyz="0" izz="4e-08"/>
    </inertial>
  </link>
  <joint name="oven_block_drawer_oven_right_joint" type="prismatic">
    <origin rpy="0 0 0" xyz="0 0 0"/>
    <parent link="drawer_oven_right_fixed_link"/>
    <child link="drawer_oven_right_link"/>
    <axis xyz="0.999 0 0.044"/>
    <!-- the axis needs to be slightly tilted so that the drawers would stay closed in Gazebo-->
    <limit effort="300" lower="0" upper="0.48" velocity="10"/>
  </joint>
  <link name="drawer_oven_right_link">
    <inertial>
      <mass value="1.0"/>
      <inertia ixx="0.153554166667" ixy="0" ixz="0" iyy="0.0348041666667" iyz="0" izz="0.173854166667"/>
    </inertial>
    <visual>
      <origin rpy="0 0 0" xyz="0 0 0"/>
      <geometry>
        <box size="0.575 0.295 1.325"/>
      </geometry>
      <material name="KitchenLightGray"/>
    </visual>
    <collision>
      <origin rpy="0 0 0" xyz="0 0 0"/>
      <geometry>
        <box size="0.58 0.3 1.33"/>
      </geometry>
    </collision>
  </link>
  <gazebo reference="drawer_oven_right_link">
    <material value="Ias/KitchenLightGray"/>
  </gazebo>
  <joint name="drawer_oven_right_handle_drawer_oven_right_joint" type="fixed">
    <origin rpy="0 0 0" xyz="0.3525 0.0 0.0"/>
    <parent link="drawer_oven_right_link"/>
    <child link="handle_drawer_oven_right_link"/>
  </joint>
  <link name="handle_drawer_oven_right_link">
    <inertial>
      <mass value="0.1"/>
      <inertia ixx="0.0127110416667" ixy="0" ixz="0" iyy="1.66666666667e-06" iyz="0" izz="0.0127110416667"/>
    </inertial>
    <visual>
      <origin rpy="0 0 0" xyz="0 0 0"/>
      <geometry>
        <box size="0.01 0.01 1.235"/>
      </geometry>
      <material name="KitchenDarkGray"/>
    </visual>
    <collision>
      <origin rpy="0 0 0" xyz="0 0 0"/>
      <geometry>
        <box size="0.015 0.015 1.24"/>
      </geometry>
    </collision>
  </link>
  <gazebo reference="handle_drawer_oven_right_link">
    <material value="Ias/KitchenDarkGray"/>
  </gazebo>
  <joint name="oven_block_skirting_oven_joint" type="fixed">
    <origin rpy="0 0 0" xyz="0.255 0.6 0.075"/>
    <parent link="oven_block_link"/>
    <child link="skirting_oven_link"/>
  </joint>
  <link name="skirting_oven_link">
    <inertial>
      <mass value="10"/>
      <inertia ixx="1.21875" ixy="0" ixz="0" iyy="1.41675" iyz="0" izz="0.2355"/>
    </inertial>
    <visual>
      <origin rpy="0 0 0" xyz="0 0 0"/>
      <geometry>
        <box size="0.51 1.2 0.15"/>
      </geometry>
      <material name="KitchenDarkGray"/>
    </visual>
    <collision>
      <origin rpy="0 0 0" xyz="0 0 0"/>
      <geometry>
        <box size="0.51 1.2 0.15"/>
      </geometry>
    </collision>
  </link>
  <gazebo reference="skirting_oven_link">
    <material value="Ias/KitchenDarkGray"/>
  </gazebo>
  <joint name="oven_block_joint" type="fixed">
    <origin rpy="0 0 0" xyz="-5.27 -6.85 0"/>
    <parent link="kitchen_link"/>
    <child link="oven_block_link"/>
  </joint>
  <link name="oven_block_link">
    <inertial>
      <mass value="0"/>
      <inertia ixx="0.0" ixy="0" ixz="0" iyy="0.0" iyz="0" izz="0.0"/>
    </inertial>
    <visual>
      <origin rpy="0 0 0" xyz="0 0 0"/>
      <geometry>
        <box size=".1 .1 .1"/>
      </geometry>
    </visual>
  </link>
  <!--           -->
  <!-- Sink Area -->
  <!--           -->
  <joint name="sink_block_sink_joint" type="fixed">
    <origin rpy="0 0 0" xyz="0 0 0"/>
    <parent link="sink_block_link"/>
    <child link="sink_link"/>
  </joint>
  <link name="sink_link">
    <inertial>
      <mass value="1.0"/>
      <inertia ixx="0.0616354166667" ixy="0" ixz="0" iyy="0.0824666666667" iyz="0" izz="0.0208354166667"/>
    </inertial>
    <visual>
      <origin rpy="0 0 0" xyz=".295 1.485 .8525"/>
      <geometry>
        <box size=".50 .86 0.005"/>
      </geometry>
      <material name="KitchenSink"/>
    </visual>
    <collision>
      <origin rpy="0 0 0" xyz=".295 1.485 .8525"/>
      <geometry>
        <box size=".50 .86 0.005"/>
      </geometry>
    </collision>
  </link>
  <gazebo reference="sink_link">
    <material value="Ias/KitchenSink"/>
  </gazebo>
  <joint name="sink_block_counter_side_sink_left_joint" type="fixed">
    <origin rpy="0 0 0" xyz="0.29 0.015 0.41"/>
    <parent link="sink_block_link"/>
    <child link="counter_side_sink_left_link"/>
  </joint>
  <link name="counter_side_sink_left_link">
    <inertial>
      <mass value="2.0"/>
      <inertia ixx="0.112216666667" ixy="0" ixz="0" iyy="0.0562166666667" iyz="0" izz="0.168133333333"/>
    </inertial>
    <visual>
      <origin rpy="0 0 0" xyz="0 0 0"/>
      <geometry>
        <box size="0.58 0.03 0.82"/>
      </geometry>
      <material name="KitchenDarkGray"/>
    </visual>
    <collision>
      <origin rpy="0 0 0" xyz="0 0 0"/>
      <geometry>
        <box size="0.58 0.03 0.82"/>
      </geometry>
    </collision>
  </link>
  <gazebo reference="counter_side_sink_left_link">
    <material value="Ias/KitchenDarkGray"/>
  </gazebo>
  <joint name="sink_block_counter_side_sink_right_joint" type="fixed">
    <origin rpy="0 0 0" xyz="0.29 2.045 0.41"/>
    <parent link="sink_block_link"/>
    <child link="counter_side_sink_right_link"/>
  </joint>
  <link name="counter_side_sink_right_link">
    <inertial>
      <mass value="2.0"/>
      <inertia ixx="0.112216666667" ixy="0" ixz="0" iyy="0.0562166666667" iyz="0" izz="0.168133333333"/>
    </inertial>
    <visual>
      <origin rpy="0 0 0" xyz="0 0 0"/>
      <geometry>
        <box size="0.58 0.03 0.82"/>
      </geometry>
      <material name="KitchenDarkGray"/>
    </visual>
    <collision>
      <origin rpy="0 0 0" xyz="0 0 0"/>
      <geometry>
        <box size="0.58 0.03 0.82"/>
      </geometry>
    </collision>
  </link>
  <gazebo reference="counter_side_sink_right_link">
    <material value="Ias/KitchenDarkGray"/>
  </gazebo>
  <joint name="sink_block_counter_top_sink_joint" type="fixed">
    <origin rpy="0 0 0" xyz="0.29 1.03 0.835"/>
    <parent link="sink_block_link"/>
    <child link="counter_top_sink_link"/>
  </joint>
  <link name="counter_top_sink_link">
    <inertial>
      <mass value="2.0"/>
      <inertia ixx="0.707416666667" ixy="0" ixz="0" iyy="0.763333333333" iyz="0" izz="0.0562166666667"/>
    </inertial>
    <visual>
      <origin rpy="0 0 0" xyz="0 0 0"/>
      <geometry>
        <box size="0.58 2.06 0.03"/>
      </geometry>
      <material name="KitchenDarkGray"/>
    </visual>
    <collision>
      <origin rpy="0 0 0" xyz="0 0 0"/>
      <geometry>
        <box size="0.58 2.06 0.03"/>
      </geometry>
    </collision>
  </link>
  <gazebo reference="counter_top_sink_link">
    <kp>100000</kp>
    <kd>1000000</kd>
    <mu1>50000</mu1>
    <mu2>50000</mu2>
    <material value="Ias/KitchenDarkGray"/>
  </gazebo>
  <joint name="sink_block_white_counter_top_sink_joint" type="fixed">
    <origin rpy="0 0 0" xyz="0.29 1.03 0.851"/>
    <parent link="sink_block_link"/>
    <child link="white_counter_top_sink_link"/>
  </joint>
  <link name="white_counter_top_sink_link">
    <inertial>
      <mass value="2.0"/>
      <inertia ixx="0.707267333333" ixy="0" ixz="0" iyy="0.763333333333" iyz="0" izz="0.0560673333333"/>
    </inertial>
    <visual>
      <origin rpy="0 0 0" xyz="0 0 0"/>
      <geometry>
        <box size="0.58 2.06 0.002"/>
      </geometry>
      <material name="KitchenWhite"/>
    </visual>
    <collision>
      <origin rpy="0 0 0" xyz="0 0 0"/>
      <geometry>
        <box size="0.58 2.06 0.002"/>
      </geometry>
    </collision>
  </link>
  <gazebo reference="white_counter_top_sink_link">
    <kp>100000</kp>
    <kd>1000000</kd>
    <mu1>50000</mu1>
    <mu2>50000</mu2>
    <material value="Ias/KitchenWhite"/>
  </gazebo>
  <joint name="sink_block_drawer_sink_col1_bottom_fixed_joint" type="fixed">
    <origin rpy="0 0 0" xyz="0.57 0.43 0.245"/>
    <parent link="sink_block_link"/>
    <child link="drawer_sink_col1_bottom_fixed_link"/>
  </joint>
  <link name="drawer_sink_col1_bottom_fixed_link">
    <inertial>
      <mass value="1"/>
      <inertia ixx="4e-07" ixy="0" ixz="0" iyy="4e-07" iyz="0" izz="4e-07"/>
    </inertial>
  </link>
  <joint name="sink_block_drawer_sink_col1_bottom_joint" type="prismatic">
    <origin rpy="0 0 0" xyz="0 0 0"/>
    <parent link="drawer_sink_col1_bottom_fixed_link"/>
    <child link="drawer_sink_col1_bottom_link"/>
    <axis xyz="0.999 0 0.044"/>
    <!-- the axis needs to be slightly tilted so that the drawers would stay closed in Gazebo-->
    <limit effort="300" lower="0" upper="0.48" velocity="10"/>
  </joint>
  <gazebo reference="sink_block_drawer_sink_col1_bottom_joint">
    <erp>0.8</erp>
    <cfm>0.0000001</cfm>
    <stopKp>1000000.0</stopKp>
    <stopKd>1.0</stopKd>
  </gazebo>
  <link name="drawer_sink_col1_bottom_link">
    <inertial>
      <mass value="1.0"/>
      <inertia ixx="0.0603416666667" ixy="0" ixz="0" iyy="0.0533666666667" iyz="0" izz="0.00704166666667"/>
    </inertial>
    <visual>
      <origin rpy="0 0 0" xyz="0 0 0"/>
      <geometry>
        <box size="0.02 0.795 0.285"/>
      </geometry>
      <material name="KitchenLightGray"/>
    </visual>
    <collision>
      <origin rpy="0 0 0" xyz="0 0 0"/>
      <geometry>
        <box size="0.02 0.8 0.29"/>
      </geometry>
    </collision>
  </link>
  <gazebo reference="drawer_sink_col1_bottom_link">
    <material value="Ias/KitchenLightGray"/>
  </gazebo>
  <joint name="drawer_sink_col1_bottom_left_fixed_joint" type="fixed">
    <origin rpy="0 0 0" xyz="0 0 0"/>
    <parent link="drawer_sink_col1_bottom_link"/>
    <child link="drawer_sink_col1_bottom_left_link"/>
  </joint>
  <link name="drawer_sink_col1_bottom_left_link">
    <inertial>
      <mass value="1.0"/>
      <inertia ixx="0.00483333333333" ixy="0" ixz="0" iyy="0.0243333333333" iyz="0" izz="0.0291"/>
    </inertial>
    <visual>
      <origin rpy="0 0 0" xyz="-0.27 -0.34 0"/>
      <geometry>
        <box size="0.54 0.02 0.24"/>
      </geometry>
      <material name="KitchenDarkGray"/>
    </visual>
    <collision>
      <origin rpy="0 0 0" xyz="-0.27 -0.34 0"/>
      <geometry>
        <box size="0.54 0.02 0.24"/>
      </geometry>
    </collision>
  </link>
  <gazebo reference="drawer_sink_col1_bottom_left_link">
    <material value="Ias/KitchenLightGray"/>
  </gazebo>
  <joint name="drawer_sink_col1_bottom_right_fixed_joint" type="fixed">
    <origin rpy="0 0 0" xyz="0 0 0"/>
    <parent link="drawer_sink_col1_bottom_link"/>
    <child link="drawer_sink_col1_bottom_right_link"/>
  </joint>
  <link name="drawer_sink_col1_bottom_right_link">
    <inertial>
      <mass value="1.0"/>
      <inertia ixx="0.00483333333333" ixy="0" ixz="0" iyy="0.0243333333333" iyz="0" izz="0.0291"/>
    </inertial>
    <visual>
      <origin rpy="0 0 0" xyz="-0.27 0.34 0"/>
      <geometry>
        <box size="0.54 0.02 0.24"/>
      </geometry>
      <material name="KitchenDarkGray"/>
    </visual>
    <collision>
      <origin rpy="0 0 0" xyz="-0.27 0.34 0"/>
      <geometry>
        <box size="0.54 0.02 0.24"/>
      </geometry>
    </collision>
  </link>
  <gazebo reference="drawer_sink_col1_bottom_right_link">
    <material value="Ias/KitchenLightGray"/>
  </gazebo>
  <joint name="drawer_sink_col1_bottom_back_fixed_joint" type="fixed">
    <origin rpy="0 0 0" xyz="0 0 0"/>
    <parent link="drawer_sink_col1_bottom_link"/>
    <child link="drawer_sink_col1_bottom_back_link"/>
  </joint>
  <link name="drawer_sink_col1_bottom_back_link">
    <inertial>
      <mass value="1.0"/>
      <inertia ixx="0.0456333333333" ixy="0" ixz="0" iyy="0.0408666666667" iyz="0" izz="0.00483333333333"/>
    </inertial>
    <visual>
      <origin rpy="0 0 0" xyz="-0.54 0 0"/>
      <geometry>
        <box size="0.02 0.7 0.24"/>
      </geometry>
      <material name="KitchenDarkGray"/>
    </visual>
    <collision>
      <origin rpy="0 0 0" xyz="-0.54 0 0"/>
      <geometry>
        <box size="0.02 0.7 0.24"/>
      </geometry>
    </collision>
  </link>
  <gazebo reference="drawer_sink_col1_bottom_back_link">
    <material value="Ias/KitchenLightGray"/>
  </gazebo>
  <joint name="drawer_sink_col1_bottom_bottom_fixed_joint" type="fixed">
    <origin rpy="0 0 0" xyz="0 0 0"/>
    <parent link="drawer_sink_col1_bottom_link"/>
    <child link="drawer_sink_col1_bottom_bottom_link"/>
  </joint>
  <link name="drawer_sink_col1_bottom_bottom_link">
    <inertial>
      <mass value="1.0"/>
      <inertia ixx="0.0408666666667" ixy="0" ixz="0" iyy="0.0651333333333" iyz="0" izz="0.0243333333333"/>
    </inertial>
    <visual>
      <origin rpy="0 0 0" xyz="-0.27 0 -0.11"/>
      <geometry>
        <box size="0.54 0.7 0.02"/>
      </geometry>
      <material name="KitchenDarkGray"/>
    </visual>
    <collision>
      <origin rpy="0 0 0" xyz="-0.27 0 -0.11"/>
      <geometry>
        <box size="0.54 0.7 0.02"/>
      </geometry>
    </collision>
  </link>
  <gazebo reference="drawer_sink_col1_bottom_bottom_link">
    <material value="Ias/KitchenLightGray"/>
  </gazebo>
  <joint name="drawer_sink_col1_bottom_handle_drawer_sink_col1_bottom_joint" type="fixed">
    <origin rpy="0 0 0" xyz="0.0625 0.0 0.0925"/>
    <parent link="drawer_sink_col1_bottom_link"/>
    <child link="handle_drawer_sink_col1_bottom_link"/>
  </joint>
  <link name="handle_drawer_sink_col1_bottom_link">
    <inertial>
      <mass value="0.1"/>
      <inertia ixx="0.00414270833333" ixy="0" ixz="0" iyy="0.00414270833333" iyz="0" izz="1.66666666667e-06"/>
    </inertial>
    <visual>
      <origin rpy="0 0 0" xyz="0 0 0"/>
      <geometry>
        <box size="0.01 0.705 0.01"/>
      </geometry>
      <material name="KitchenDarkGray"/>
    </visual>
    <collision>
      <origin rpy="0 0 0" xyz="0 0 0"/>
      <geometry>
        <box size="0.015 0.71 0.015"/>
      </geometry>
    </collision>
  </link>
  <gazebo reference="handle_drawer_sink_col1_bottom_link">
    <material value="Ias/KitchenDarkGray"/>
  </gazebo>
  <joint name="sink_block_drawer_sink_col1_center_fixed_joint" type="fixed">
    <origin rpy="0 0 0" xyz="0.57 0.43 0.535"/>
    <parent link="sink_block_link"/>
    <child link="drawer_sink_col1_center_fixed_link"/>
  </joint>
  <link name="drawer_sink_col1_center_fixed_link">
    <inertial>
      <mass value="1"/>
      <inertia ixx="4e-07" ixy="0" ixz="0" iyy="4e-07" iyz="0" izz="4e-07"/>
    </inertial>
  </link>
  <joint name="sink_block_drawer_sink_col1_center_joint" type="prismatic">
    <origin rpy="0 0 0" xyz="0 0 0"/>
    <parent link="drawer_sink_col1_center_fixed_link"/>
    <child link="drawer_sink_col1_center_link"/>
    <axis xyz="0.999 0 0.044"/>
    <!-- the axis needs to be slightly tilted so that the drawers would stay closed in Gazebo-->
    <limit effort="300" lower="0" upper="0.48" velocity="10"/>
  </joint>
  <gazebo reference="sink_block_drawer_sink_col1_center_joint">
    <erp>0.8</erp>
    <cfm>0.0000001</cfm>
    <stopKp>1000000.0</stopKp>
    <stopKd>1.0</stopKd>
  </gazebo>
  <link name="drawer_sink_col1_center_link">
    <inertial>
      <mass value="1.0"/>
      <inertia ixx="0.0603416666667" ixy="0" ixz="0" iyy="0.0533666666667" iyz="0" izz="0.00704166666667"/>
    </inertial>
    <visual>
      <origin rpy="0 0 0" xyz="0 0 0"/>
      <geometry>
        <box size="0.02 0.795 0.285"/>
      </geometry>
      <material name="KitchenLightGray"/>
    </visual>
    <collision>
      <origin rpy="0 0 0" xyz="0 0 0"/>
      <geometry>
        <box size="0.02 0.8 0.29"/>
      </geometry>
    </collision>
  </link>
  <gazebo reference="drawer_sink_col1_center_link">
    <material value="Ias/KitchenLightGray"/>
  </gazebo>
  <joint name="drawer_sink_col1_center_left_fixed_joint" type="fixed">
    <origin rpy="0 0 0" xyz="0 0 0"/>
    <parent link="drawer_sink_col1_center_link"/>
    <child link="drawer_sink_col1_center_left_link"/>
  </joint>
  <link name="drawer_sink_col1_center_left_link">
    <inertial>
      <mass value="1.0"/>
      <inertia ixx="0.00483333333333" ixy="0" ixz="0" iyy="0.0243333333333" iyz="0" izz="0.0291"/>
    </inertial>
    <visual>
      <origin rpy="0 0 0" xyz="-0.27 -0.34 0"/>
      <geometry>
        <box size="0.54 0.02 0.24"/>
      </geometry>
      <material name="KitchenDarkGray"/>
    </visual>
    <collision>
      <origin rpy="0 0 0" xyz="-0.27 -0.34 0"/>
      <geometry>
        <box size="0.54 0.02 0.24"/>
      </geometry>
    </collision>
  </link>
  <gazebo reference="drawer_sink_col1_center_left_link">
    <material value="Ias/KitchenLightGray"/>
  </gazebo>
  <joint name="drawer_sink_col1_center_right_fixed_joint" type="fixed">
    <origin rpy="0 0 0" xyz="0 0 0"/>
    <parent link="drawer_sink_col1_center_link"/>
    <child link="drawer_sink_col1_center_right_link"/>
  </joint>
  <link name="drawer_sink_col1_center_right_link">
    <inertial>
      <mass value="1.0"/>
      <inertia ixx="0.00483333333333" ixy="0" ixz="0" iyy="0.0243333333333" iyz="0" izz="0.0291"/>
    </inertial>
    <visual>
      <origin rpy="0 0 0" xyz="-0.27 0.34 0"/>
      <geometry>
        <box size="0.54 0.02 0.24"/>
      </geometry>
      <material name="KitchenDarkGray"/>
    </visual>
    <collision>
      <origin rpy="0 0 0" xyz="-0.27 0.34 0"/>
      <geometry>
        <box size="0.54 0.02 0.24"/>
      </geometry>
    </collision>
  </link>
  <gazebo reference="drawer_sink_col1_center_right_link">
    <material value="Ias/KitchenLightGray"/>
  </gazebo>
  <joint name="drawer_sink_col1_center_back_fixed_joint" type="fixed">
    <origin rpy="0 0 0" xyz="0 0 0"/>
    <parent link="drawer_sink_col1_center_link"/>
    <child link="drawer_sink_col1_center_back_link"/>
  </joint>
  <link name="drawer_sink_col1_center_back_link">
    <inertial>
      <mass value="1.0"/>
      <inertia ixx="0.0456333333333" ixy="0" ixz="0" iyy="0.0408666666667" iyz="0" izz="0.00483333333333"/>
    </inertial>
    <visual>
      <origin rpy="0 0 0" xyz="-0.54 0 0"/>
      <geometry>
        <box size="0.02 0.7 0.24"/>
      </geometry>
      <material name="KitchenDarkGray"/>
    </visual>
    <collision>
      <origin rpy="0 0 0" xyz="-0.54 0 0"/>
      <geometry>
        <box size="0.02 0.7 0.24"/>
      </geometry>
    </collision>
  </link>
  <gazebo reference="drawer_sink_col1_center_back_link">
    <material value="Ias/KitchenLightGray"/>
  </gazebo>
  <joint name="drawer_sink_col1_center_bottom_fixed_joint" type="fixed">
    <origin rpy="0 0 0" xyz="0 0 0"/>
    <parent link="drawer_sink_col1_center_link"/>
    <child link="drawer_sink_col1_center_bottom_link"/>
  </joint>
  <link name="drawer_sink_col1_center_bottom_link">
    <inertial>
      <mass value="1.0"/>
      <inertia ixx="0.0408666666667" ixy="0" ixz="0" iyy="0.0651333333333" iyz="0" izz="0.0243333333333"/>
    </inertial>
    <visual>
      <origin rpy="0 0 0" xyz="-0.27 0 -0.11"/>
      <geometry>
        <box size="0.54 0.7 0.02"/>
      </geometry>
      <material name="KitchenDarkGray"/>
    </visual>
    <collision>
      <origin rpy="0 0 0" xyz="-0.27 0 -0.11"/>
      <geometry>
        <box size="0.54 0.7 0.02"/>
      </geometry>
    </collision>
  </link>
  <gazebo reference="drawer_sink_col1_center_bottom_link">
    <material value="Ias/KitchenLightGray"/>
  </gazebo>
  <joint name="drawer_sink_col1_center_handle_drawer_sink_col1_center_joint" type="fixed">
    <origin rpy="0 0 0" xyz="0.0625 0.0 0.0925"/>
    <parent link="drawer_sink_col1_center_link"/>
    <child link="handle_drawer_sink_col1_center_link"/>
  </joint>
  <link name="handle_drawer_sink_col1_center_link">
    <inertial>
      <mass value="0.1"/>
      <inertia ixx="0.00414270833333" ixy="0" ixz="0" iyy="0.00414270833333" iyz="0" izz="1.66666666667e-06"/>
    </inertial>
    <visual>
      <origin rpy="0 0 0" xyz="0 0 0"/>
      <geometry>
        <box size="0.01 0.705 0.01"/>
      </geometry>
      <material name="KitchenDarkGray"/>
    </visual>
    <collision>
      <origin rpy="0 0 0" xyz="0 0 0"/>
      <geometry>
        <box size="0.015 0.71 0.015"/>
      </geometry>
    </collision>
  </link>
  <gazebo reference="handle_drawer_sink_col1_center_link">
    <material value="Ias/KitchenDarkGray"/>
  </gazebo>
  <joint name="sink_block_drawer_sink_col1_top_fixed_joint" type="fixed">
    <origin rpy="0 0 0" xyz="0.57 0.43 0.75"/>
    <parent link="sink_block_link"/>
    <child link="drawer_sink_col1_top_fixed_link"/>
  </joint>
  <link name="drawer_sink_col1_top_fixed_link">
    <inertial>
      <mass value="1"/>
      <inertia ixx="4e-07" ixy="0" ixz="0" iyy="4e-07" iyz="0" izz="4e-07"/>
    </inertial>
  </link>
  <joint name="sink_block_drawer_sink_col1_top_joint" type="prismatic">
    <origin rpy="0 0 0" xyz="0 0 0"/>
    <parent link="drawer_sink_col1_top_fixed_link"/>
    <child link="drawer_sink_col1_top_link"/>
    <axis xyz="0.999 0 0.044"/>
    <!-- the axis needs to be slightly tilted so that the drawers would stay closed in Gazebo-->
    <limit effort="300" lower="0" upper="0.48" velocity="10"/>
  </joint>
  <gazebo reference="sink_block_drawer_sink_col1_top_joint">
    <erp>0.8</erp>
    <cfm>0.0000001</cfm>
    <stopKp>1000000.0</stopKp>
    <stopKd>1.0</stopKd>
  </gazebo>
  <link name="drawer_sink_col1_top_link">
    <inertial>
      <mass value="1.0"/>
      <inertia ixx="0.0549666666667" ixy="0" ixz="0" iyy="0.0533666666667" iyz="0" izz="0.00166666666667"/>
    </inertial>
    <visual>
      <origin rpy="0 0 0" xyz="0 0 0"/>
      <geometry>
        <box size="0.02 0.795 0.135"/>
      </geometry>
      <material name="KitchenLightGray"/>
    </visual>
    <collision>
      <origin rpy="0 0 0" xyz="0 0 0"/>
      <geometry>
        <box size="0.02 0.8 0.14"/>
      </geometry>
    </collision>
  </link>
  <gazebo reference="drawer_sink_col1_top_link">
    <material value="Ias/KitchenLightGray"/>
  </gazebo>
  <joint name="drawer_sink_col1_top_left_fixed_joint" type="fixed">
    <origin rpy="0 0 0" xyz="0 0 0"/>
    <parent link="drawer_sink_col1_top_link"/>
    <child link="drawer_sink_col1_top_left_link"/>
  </joint>
  <link name="drawer_sink_col1_top_left_link">
    <inertial>
      <mass value="1.0"/>
      <inertia ixx="0.000708333333333" ixy="0" ixz="0" iyy="0.0243333333333" iyz="0" izz="0.024975"/>
    </inertial>
    <visual>
      <origin rpy="0 0 0" xyz="-0.27 -0.34 0"/>
      <geometry>
        <box size="0.54 0.02 0.09"/>
      </geometry>
      <material name="KitchenDarkGray"/>
    </visual>
    <collision>
      <origin rpy="0 0 0" xyz="-0.27 -0.34 0"/>
      <geometry>
        <box size="0.54 0.02 0.09"/>
      </geometry>
    </collision>
  </link>
  <gazebo reference="drawer_sink_col1_top_left_link">
    <material value="Ias/KitchenLightGray"/>
  </gazebo>
  <joint name="drawer_sink_col1_top_right_fixed_joint" type="fixed">
    <origin rpy="0 0 0" xyz="0 0 0"/>
    <parent link="drawer_sink_col1_top_link"/>
    <child link="drawer_sink_col1_top_right_link"/>
  </joint>
  <link name="drawer_sink_col1_top_right_link">
    <inertial>
      <mass value="1.0"/>
      <inertia ixx="0.000708333333333" ixy="0" ixz="0" iyy="0.0243333333333" iyz="0" izz="0.024975"/>
    </inertial>
    <visual>
      <origin rpy="0 0 0" xyz="-0.27 0.34 0"/>
      <geometry>
        <box size="0.54 0.02 0.09"/>
      </geometry>
      <material name="KitchenDarkGray"/>
    </visual>
    <collision>
      <origin rpy="0 0 0" xyz="-0.27 0.34 0"/>
      <geometry>
        <box size="0.54 0.02 0.09"/>
      </geometry>
    </collision>
  </link>
  <gazebo reference="drawer_sink_col1_top_right_link">
    <material value="Ias/KitchenLightGray"/>
  </gazebo>
  <joint name="drawer_sink_col1_top_back_fixed_joint" type="fixed">
    <origin rpy="0 0 0" xyz="0 0 0"/>
    <parent link="drawer_sink_col1_top_link"/>
    <child link="drawer_sink_col1_top_back_link"/>
  </joint>
  <link name="drawer_sink_col1_top_back_link">
    <inertial>
      <mass value="1.0"/>
      <inertia ixx="0.0415083333333" ixy="0" ixz="0" iyy="0.0408666666667" iyz="0" izz="0.000708333333333"/>
    </inertial>
    <visual>
      <origin rpy="0 0 0" xyz="-0.54 0 0"/>
      <geometry>
        <box size="0.02 0.7 0.09"/>
      </geometry>
      <material name="KitchenDarkGray"/>
    </visual>
    <collision>
      <origin rpy="0 0 0" xyz="-0.54 0 0"/>
      <geometry>
        <box size="0.02 0.7 0.09"/>
      </geometry>
    </collision>
  </link>
  <gazebo reference="drawer_sink_col1_top_back_link">
    <material value="Ias/KitchenLightGray"/>
  </gazebo>
  <joint name="drawer_sink_col1_top_bottom_fixed_joint" type="fixed">
    <origin rpy="0 0 0" xyz="0 0 0"/>
    <parent link="drawer_sink_col1_top_link"/>
    <child link="drawer_sink_col1_top_bottom_link"/>
  </joint>
  <link name="drawer_sink_col1_top_bottom_link">
    <inertial>
      <mass value="1.0"/>
      <inertia ixx="0.0408666666667" ixy="0" ixz="0" iyy="0.0651333333333" iyz="0" izz="0.0243333333333"/>
    </inertial>
    <visual>
      <origin rpy="0 0 0" xyz="-0.27 0 -0.035"/>
      <geometry>
        <box size="0.54 0.7 0.02"/>
      </geometry>
      <material name="KitchenDarkGray"/>
    </visual>
    <collision>
      <origin rpy="0 0 0" xyz="-0.27 0 -0.035"/>
      <geometry>
        <box size="0.54 0.7 0.02"/>
      </geometry>
    </collision>
  </link>
  <gazebo reference="drawer_sink_col1_top_bottom_link">
    <material value="Ias/KitchenLightGray"/>
  </gazebo>
  <joint name="drawer_sink_col1_top_handle_drawer_sink_col1_top_joint" type="fixed">
    <origin rpy="0 0 0" xyz="0.0625 0.0 0.0175"/>
    <parent link="drawer_sink_col1_top_link"/>
    <child link="handle_drawer_sink_col1_top_link"/>
  </joint>
  <link name="handle_drawer_sink_col1_top_link">
    <inertial>
      <mass value="0.1"/>
      <inertia ixx="0.00414270833333" ixy="0" ixz="0" iyy="0.00414270833333" iyz="0" izz="1.66666666667e-06"/>
    </inertial>
    <visual>
      <origin rpy="0 0 0" xyz="0 0 0"/>
      <geometry>
        <box size="0.01 0.705 0.01"/>
      </geometry>
      <material name="KitchenDarkGray"/>
    </visual>
    <collision>
      <origin rpy="0 0 0" xyz="0 0 0"/>
      <geometry>
        <box size="0.015 0.71 0.015"/>
      </geometry>
    </collision>
  </link>
  <gazebo reference="handle_drawer_sink_col1_top_link">
    <material value="Ias/KitchenDarkGray"/>
  </gazebo>
  <joint name="sink_block_drawer_sink_col2_fixed_joint" type="fixed">
    <origin rpy="0 0 0" xyz="0.57 1.13 0.46"/>
    <parent link="sink_block_link"/>
    <child link="drawer_sink_col2_fixed_link"/>
  </joint>
  <link name="drawer_sink_col2_fixed_link">
    <inertial>
      <mass value="1"/>
      <inertia ixx="4e-07" ixy="0" ixz="0" iyy="4e-07" iyz="0" izz="4e-07"/>
    </inertial>
  </link>
  <joint name="sink_block_drawer_sink_col2_joint" type="prismatic">
    <origin rpy="0 0 0" xyz="0 0 0"/>
    <parent link="drawer_sink_col2_fixed_link"/>
    <child link="drawer_sink_col2_link"/>
    <axis xyz="0.999 0 0.044"/>
    <!-- the axis needs to be slightly tilted so that the drawers would stay closed in Gazebo-->
    <limit effort="300" lower="0" upper="0.48" velocity="10"/>
  </joint>
  <gazebo reference="sink_block_drawer_sink_col2_joint">
    <erp>0.8</erp>
    <cfm>0.0000001</cfm>
    <stopKp>1000000.0</stopKp>
    <stopKd>1.0</stopKd>
  </gazebo>
  <link name="drawer_sink_col2_link">
    <inertial>
      <mass value="1.0"/>
      <inertia ixx="0.0732" ixy="0" ixz="0" iyy="0.0300333333333" iyz="0" izz="0.0432333333333"/>
    </inertial>
    <visual>
      <origin rpy="0 0 0" xyz="0 0 0"/>
      <geometry>
        <box size="0.02 0.595 0.715"/>
      </geometry>
      <material name="KitchenLightGray"/>
    </visual>
    <collision>
      <origin rpy="0 0 0" xyz="0 0 0"/>
      <geometry>
        <box size="0.02 0.6 0.72"/>
      </geometry>
    </collision>
  </link>
  <gazebo reference="drawer_sink_col2_link">
    <material value="Ias/KitchenLightGray"/>
  </gazebo>
  <joint name="drawer_sink_col2_left_fixed_joint" type="fixed">
    <origin rpy="0 0 0" xyz="0 0 0"/>
    <parent link="drawer_sink_col2_link"/>
    <child link="drawer_sink_col2_left_link"/>
  </joint>
  <link name="drawer_sink_col2_left_link">
    <inertial>
      <mass value="1.0"/>
      <inertia ixx="0.0374416666667" ixy="0" ixz="0" iyy="0.0243333333333" iyz="0" izz="0.0617083333333"/>
    </inertial>
    <visual>
      <origin rpy="0 0 0" xyz="-0.27 -0.24 0"/>
      <geometry>
        <box size="0.54 0.02 0.67"/>
      </geometry>
      <material name="KitchenDarkGray"/>
    </visual>
    <collision>
      <origin rpy="0 0 0" xyz="-0.27 -0.24 0"/>
      <geometry>
        <box size="0.54 0.02 0.67"/>
      </geometry>
    </collision>
  </link>
  <gazebo reference="drawer_sink_col2_left_link">
    <material value="Ias/KitchenLightGray"/>
  </gazebo>
  <joint name="drawer_sink_col2_right_fixed_joint" type="fixed">
    <origin rpy="0 0 0" xyz="0 0 0"/>
    <parent link="drawer_sink_col2_link"/>
    <child link="drawer_sink_col2_right_link"/>
  </joint>
  <link name="drawer_sink_col2_right_link">
    <inertial>
      <mass value="1.0"/>
      <inertia ixx="0.0374416666667" ixy="0" ixz="0" iyy="0.0243333333333" iyz="0" izz="0.0617083333333"/>
    </inertial>
    <visual>
      <origin rpy="0 0 0" xyz="-0.27 0.24 0"/>
      <geometry>
        <box size="0.54 0.02 0.67"/>
      </geometry>
      <material name="KitchenDarkGray"/>
    </visual>
    <collision>
      <origin rpy="0 0 0" xyz="-0.27 0.24 0"/>
      <geometry>
        <box size="0.54 0.02 0.67"/>
      </geometry>
    </collision>
  </link>
  <gazebo reference="drawer_sink_col2_right_link">
    <material value="Ias/KitchenLightGray"/>
  </gazebo>
  <joint name="drawer_sink_col2_back_fixed_joint" type="fixed">
    <origin rpy="0 0 0" xyz="0 0 0"/>
    <parent link="drawer_sink_col2_link"/>
    <child link="drawer_sink_col2_back_link"/>
  </joint>
  <link name="drawer_sink_col2_back_link">
    <inertial>
      <mass value="1.0"/>
      <inertia ixx="0.0582416666667" ixy="0" ixz="0" iyy="0.0208666666667" iyz="0" izz="0.0374416666667"/>
    </inertial>
    <visual>
      <origin rpy="0 0 0" xyz="-0.54 0 0"/>
      <geometry>
        <box size="0.02 0.5 0.67"/>
      </geometry>
      <material name="KitchenDarkGray"/>
    </visual>
    <collision>
      <origin rpy="0 0 0" xyz="-0.54 0 0"/>
      <geometry>
        <box size="0.02 0.5 0.67"/>
      </geometry>
    </collision>
  </link>
  <gazebo reference="drawer_sink_col2_back_link">
    <material value="Ias/KitchenLightGray"/>
  </gazebo>
  <joint name="drawer_sink_col2_bottom_fixed_joint" type="fixed">
    <origin rpy="0 0 0" xyz="0 0 0"/>
    <parent link="drawer_sink_col2_link"/>
    <child link="drawer_sink_col2_bottom_link"/>
  </joint>
  <link name="drawer_sink_col2_bottom_link">
    <inertial>
      <mass value="1.0"/>
      <inertia ixx="0.0208666666667" ixy="0" ixz="0" iyy="0.0451333333333" iyz="0" izz="0.0243333333333"/>
    </inertial>
    <visual>
      <origin rpy="0 0 0" xyz="-0.27 0 -0.325"/>
      <geometry>
        <box size="0.54 0.5 0.02"/>
      </geometry>
      <material name="KitchenDarkGray"/>
    </visual>
    <collision>
      <origin rpy="0 0 0" xyz="-0.27 0 -0.325"/>
      <geometry>
        <box size="0.54 0.5 0.02"/>
      </geometry>
    </collision>
  </link>
  <gazebo reference="drawer_sink_col2_bottom_link">
    <material value="Ias/KitchenLightGray"/>
  </gazebo>
  <joint name="drawer_sink_col2_handle_drawer_sink_col2_joint" type="fixed">
    <origin rpy="0 0 0" xyz="0.0625 0.0 0.3075"/>
    <parent link="drawer_sink_col2_link"/>
    <child link="handle_drawer_sink_col2_link"/>
  </joint>
  <link name="handle_drawer_sink_col2_link">
    <inertial>
      <mass value="0.1"/>
      <inertia ixx="0.00212604166667" ixy="0" ixz="0" iyy="0.00212604166667" iyz="0" izz="1.66666666667e-06"/>
    </inertial>
    <visual>
      <origin rpy="0 0 0" xyz="0 0 0"/>
      <geometry>
        <box size="0.01 0.505 0.01"/>
      </geometry>
      <material name="KitchenDarkGray"/>
    </visual>
    <collision>
      <origin rpy="0 0 0" xyz="0 0 0"/>
      <geometry>
        <box size="0.015 0.51 0.015"/>
      </geometry>
    </collision>
  </link>
  <gazebo reference="handle_drawer_sink_col2_link">
    <material value="Ias/KitchenDarkGray"/>
  </gazebo>
  <joint name="sink_block_drawer_sink_col3_bottom_fixed_joint" type="fixed">
    <origin rpy="0 0 0" xyz="0.57 1.73 0.39"/>
    <parent link="sink_block_link"/>
    <child link="drawer_sink_col3_bottom_fixed_link"/>
  </joint>
  <link name="drawer_sink_col3_bottom_fixed_link">
    <inertial>
      <mass value="1"/>
      <inertia ixx="4e-07" ixy="0" ixz="0" iyy="4e-07" iyz="0" izz="4e-07"/>
    </inertial>
  </link>
  <joint name="sink_block_drawer_sink_col3_bottom_joint" type="prismatic">
    <origin rpy="0 0 0" xyz="0 0 0"/>
    <parent link="drawer_sink_col3_bottom_fixed_link"/>
    <child link="drawer_sink_col3_bottom_link"/>
    <axis xyz="0.999 0 0.044"/>
    <!-- the axis needs to be slightly tilted so that the drawers would stay closed in Gazebo-->
    <limit effort="300" lower="0" upper="0.48" velocity="10"/>
  </joint>
  <gazebo reference="sink_block_drawer_sink_col3_bottom_joint">
    <erp>0.8</erp>
    <cfm>0.0000001</cfm>
    <stopKp>1000000.0</stopKp>
    <stopKd>1.0</stopKd>
  </gazebo>
  <link name="drawer_sink_col3_bottom_link">
    <inertial>
      <mass value="1.0"/>
      <inertia ixx="0.0580333333333" ixy="0" ixz="0" iyy="0.0300333333333" iyz="0" izz="0.0280666666667"/>
    </inertial>
    <visual>
      <origin rpy="0 0 0" xyz="0 0 0"/>
      <geometry>
        <box size="0.02 0.595 0.575"/>
      </geometry>
      <material name="KitchenLightGray"/>
    </visual>
    <collision>
      <origin rpy="0 0 0" xyz="0 0 0"/>
      <geometry>
        <box size="0.02 0.6 0.58"/>
      </geometry>
    </collision>
  </link>
  <gazebo reference="drawer_sink_col3_bottom_link">
    <material value="Ias/KitchenLightGray"/>
  </gazebo>
  <joint name="drawer_sink_col3_bottom_left_fixed_joint" type="fixed">
    <origin rpy="0 0 0" xyz="0 0 0"/>
    <parent link="drawer_sink_col3_bottom_link"/>
    <child link="drawer_sink_col3_bottom_left_link"/>
  </joint>
  <link name="drawer_sink_col3_bottom_left_link">
    <inertial>
      <mass value="1.0"/>
      <inertia ixx="0.0234416666667" ixy="0" ixz="0" iyy="0.0243333333333" iyz="0" izz="0.0477083333333"/>
    </inertial>
    <visual>
      <origin rpy="0 0 0" xyz="-0.27 -0.24 0"/>
      <geometry>
        <box size="0.54 0.02 0.53"/>
      </geometry>
      <material name="KitchenDarkGray"/>
    </visual>
    <collision>
      <origin rpy="0 0 0" xyz="-0.27 -0.24 0"/>
      <geometry>
        <box size="0.54 0.02 0.53"/>
      </geometry>
    </collision>
  </link>
  <gazebo reference="drawer_sink_col3_bottom_left_link">
    <material value="Ias/KitchenLightGray"/>
  </gazebo>
  <joint name="drawer_sink_col3_bottom_right_fixed_joint" type="fixed">
    <origin rpy="0 0 0" xyz="0 0 0"/>
    <parent link="drawer_sink_col3_bottom_link"/>
    <child link="drawer_sink_col3_bottom_right_link"/>
  </joint>
  <link name="drawer_sink_col3_bottom_right_link">
    <inertial>
      <mass value="1.0"/>
      <inertia ixx="0.0234416666667" ixy="0" ixz="0" iyy="0.0243333333333" iyz="0" izz="0.0477083333333"/>
    </inertial>
    <visual>
      <origin rpy="0 0 0" xyz="-0.27 0.24 0"/>
      <geometry>
        <box size="0.54 0.02 0.53"/>
      </geometry>
      <material name="KitchenDarkGray"/>
    </visual>
    <collision>
      <origin rpy="0 0 0" xyz="-0.27 0.24 0"/>
      <geometry>
        <box size="0.54 0.02 0.53"/>
      </geometry>
    </collision>
  </link>
  <gazebo reference="drawer_sink_col3_bottom_right_link">
    <material value="Ias/KitchenLightGray"/>
  </gazebo>
  <joint name="drawer_sink_col3_bottom_back_fixed_joint" type="fixed">
    <origin rpy="0 0 0" xyz="0 0 0"/>
    <parent link="drawer_sink_col3_bottom_link"/>
    <child link="drawer_sink_col3_bottom_back_link"/>
  </joint>
  <link name="drawer_sink_col3_bottom_back_link">
    <inertial>
      <mass value="1.0"/>
      <inertia ixx="0.0442416666667" ixy="0" ixz="0" iyy="0.0208666666667" iyz="0" izz="0.0234416666667"/>
    </inertial>
    <visual>
      <origin rpy="0 0 0" xyz="-0.54 0 0"/>
      <geometry>
        <box size="0.02 0.5 0.53"/>
      </geometry>
      <material name="KitchenDarkGray"/>
    </visual>
    <collision>
      <origin rpy="0 0 0" xyz="-0.54 0 0"/>
      <geometry>
        <box size="0.02 0.5 0.53"/>
      </geometry>
    </collision>
  </link>
  <gazebo reference="drawer_sink_col3_bottom_back_link">
    <material value="Ias/KitchenLightGray"/>
  </gazebo>
  <joint name="drawer_sink_col3_bottom_bottom_fixed_joint" type="fixed">
    <origin rpy="0 0 0" xyz="0 0 0"/>
    <parent link="drawer_sink_col3_bottom_link"/>
    <child link="drawer_sink_col3_bottom_bottom_link"/>
  </joint>
  <link name="drawer_sink_col3_bottom_bottom_link">
    <inertial>
      <mass value="1.0"/>
      <inertia ixx="0.0208666666667" ixy="0" ixz="0" iyy="0.0451333333333" iyz="0" izz="0.0243333333333"/>
    </inertial>
    <visual>
      <origin rpy="0 0 0" xyz="-0.27 0 -0.255"/>
      <geometry>
        <box size="0.54 0.5 0.02"/>
      </geometry>
      <material name="KitchenDarkGray"/>
    </visual>
    <collision>
      <origin rpy="0 0 0" xyz="-0.27 0 -0.255"/>
      <geometry>
        <box size="0.54 0.5 0.02"/>
      </geometry>
    </collision>
  </link>
  <gazebo reference="drawer_sink_col3_bottom_bottom_link">
    <material value="Ias/KitchenLightGray"/>
  </gazebo>
  <joint name="drawer_sink_col3_bottom_handle_drawer_sink_col3_bottom_joint" type="fixed">
    <origin rpy="0 0 0" xyz="0.0625 0.0 0.2375"/>
    <parent link="drawer_sink_col3_bottom_link"/>
    <child link="handle_drawer_sink_col3_bottom_link"/>
  </joint>
  <link name="handle_drawer_sink_col3_bottom_link">
    <inertial>
      <mass value="0.1"/>
      <inertia ixx="0.00212604166667" ixy="0" ixz="0" iyy="0.00212604166667" iyz="0" izz="1.66666666667e-06"/>
    </inertial>
    <visual>
      <origin rpy="0 0 0" xyz="0 0 0"/>
      <geometry>
        <box size="0.01 0.505 0.01"/>
      </geometry>
      <material name="KitchenDarkGray"/>
    </visual>
    <collision>
      <origin rpy="0 0 0" xyz="0 0 0"/>
      <geometry>
        <box size="0.015 0.51 0.015"/>
      </geometry>
    </collision>
  </link>
  <gazebo reference="handle_drawer_sink_col3_bottom_link">
    <material value="Ias/KitchenDarkGray"/>
  </gazebo>
  <joint name="sink_block_drawer_sink_col3_top_fixed_joint" type="fixed">
    <origin rpy="0 0 0" xyz="0.57 1.73 0.75"/>
    <parent link="sink_block_link"/>
    <child link="drawer_sink_col3_top_fixed_link"/>
  </joint>
  <link name="drawer_sink_col3_top_fixed_link">
    <inertial>
      <mass value="1"/>
      <inertia ixx="4e-07" ixy="0" ixz="0" iyy="4e-07" iyz="0" izz="4e-07"/>
    </inertial>
  </link>
  <joint name="sink_block_drawer_sink_col3_top_joint" type="prismatic">
    <origin rpy="0 0 0" xyz="0 0 0"/>
    <parent link="drawer_sink_col3_top_fixed_link"/>
    <child link="drawer_sink_col3_top_link"/>
    <axis xyz="0.999 0 0.044"/>
    <!-- the axis needs to be slightly tilted so that the drawers would stay closed in Gazebo-->
    <limit effort="300" lower="0" upper="0.48" velocity="10"/>
  </joint>
  <gazebo reference="sink_block_drawer_sink_col3_top_joint">
    <erp>0.8</erp>
    <cfm>0.0000001</cfm>
    <stopKp>1000000.0</stopKp>
    <stopKd>1.0</stopKd>
  </gazebo>
  <link name="drawer_sink_col3_top_link">
    <inertial>
      <mass value="1.0"/>
      <inertia ixx="0.0316333333333" ixy="0" ixz="0" iyy="0.0300333333333" iyz="0" izz="0.00166666666667"/>
    </inertial>
    <visual>
      <origin rpy="0 0 0" xyz="0 0 0"/>
      <geometry>
        <box size="0.02 0.595 0.135"/>
      </geometry>
      <material name="KitchenLightGray"/>
    </visual>
    <collision>
      <origin rpy="0 0 0" xyz="0 0 0"/>
      <geometry>
        <box size="0.02 0.6 0.14"/>
      </geometry>
    </collision>
  </link>
  <gazebo reference="drawer_sink_col3_top_link">
    <material value="Ias/KitchenLightGray"/>
  </gazebo>
  <joint name="drawer_sink_col3_top_left_fixed_joint" type="fixed">
    <origin rpy="0 0 0" xyz="0 0 0"/>
    <parent link="drawer_sink_col3_top_link"/>
    <child link="drawer_sink_col3_top_left_link"/>
  </joint>
  <link name="drawer_sink_col3_top_left_link">
    <inertial>
      <mass value="1.0"/>
      <inertia ixx="0.000708333333333" ixy="0" ixz="0" iyy="0.0243333333333" iyz="0" izz="0.024975"/>
    </inertial>
    <visual>
      <origin rpy="0 0 0" xyz="-0.27 -0.24 0"/>
      <geometry>
        <box size="0.54 0.02 0.09"/>
      </geometry>
      <material name="KitchenDarkGray"/>
    </visual>
    <collision>
      <origin rpy="0 0 0" xyz="-0.27 -0.24 0"/>
      <geometry>
        <box size="0.54 0.02 0.09"/>
      </geometry>
    </collision>
  </link>
  <gazebo reference="drawer_sink_col3_top_left_link">
    <material value="Ias/KitchenLightGray"/>
  </gazebo>
  <joint name="drawer_sink_col3_top_right_fixed_joint" type="fixed">
    <origin rpy="0 0 0" xyz="0 0 0"/>
    <parent link="drawer_sink_col3_top_link"/>
    <child link="drawer_sink_col3_top_right_link"/>
  </joint>
  <link name="drawer_sink_col3_top_right_link">
    <inertial>
      <mass value="1.0"/>
      <inertia ixx="0.000708333333333" ixy="0" ixz="0" iyy="0.0243333333333" iyz="0" izz="0.024975"/>
    </inertial>
    <visual>
      <origin rpy="0 0 0" xyz="-0.27 0.24 0"/>
      <geometry>
        <box size="0.54 0.02 0.09"/>
      </geometry>
      <material name="KitchenDarkGray"/>
    </visual>
    <collision>
      <origin rpy="0 0 0" xyz="-0.27 0.24 0"/>
      <geometry>
        <box size="0.54 0.02 0.09"/>
      </geometry>
    </collision>
  </link>
  <gazebo reference="drawer_sink_col3_top_right_link">
    <material value="Ias/KitchenLightGray"/>
  </gazebo>
  <joint name="drawer_sink_col3_top_back_fixed_joint" type="fixed">
    <origin rpy="0 0 0" xyz="0 0 0"/>
    <parent link="drawer_sink_col3_top_link"/>
    <child link="drawer_sink_col3_top_back_link"/>
  </joint>
  <link name="drawer_sink_col3_top_back_link">
    <inertial>
      <mass value="1.0"/>
      <inertia ixx="0.0215083333333" ixy="0" ixz="0" iyy="0.0208666666667" iyz="0" izz="0.000708333333333"/>
    </inertial>
    <visual>
      <origin rpy="0 0 0" xyz="-0.54 0 0"/>
      <geometry>
        <box size="0.02 0.5 0.09"/>
      </geometry>
      <material name="KitchenDarkGray"/>
    </visual>
    <collision>
      <origin rpy="0 0 0" xyz="-0.54 0 0"/>
      <geometry>
        <box size="0.02 0.5 0.09"/>
      </geometry>
    </collision>
  </link>
  <gazebo reference="drawer_sink_col3_top_back_link">
    <material value="Ias/KitchenLightGray"/>
  </gazebo>
  <joint name="drawer_sink_col3_top_bottom_fixed_joint" type="fixed">
    <origin rpy="0 0 0" xyz="0 0 0"/>
    <parent link="drawer_sink_col3_top_link"/>
    <child link="drawer_sink_col3_top_bottom_link"/>
  </joint>
  <link name="drawer_sink_col3_top_bottom_link">
    <inertial>
      <mass value="1.0"/>
      <inertia ixx="0.0208666666667" ixy="0" ixz="0" iyy="0.0451333333333" iyz="0" izz="0.0243333333333"/>
    </inertial>
    <visual>
      <origin rpy="0 0 0" xyz="-0.27 0 -0.035"/>
      <geometry>
        <box size="0.54 0.5 0.02"/>
      </geometry>
      <material name="KitchenDarkGray"/>
    </visual>
    <collision>
      <origin rpy="0 0 0" xyz="-0.27 0 -0.035"/>
      <geometry>
        <box size="0.54 0.5 0.02"/>
      </geometry>
    </collision>
  </link>
  <gazebo reference="drawer_sink_col3_top_bottom_link">
    <material value="Ias/KitchenLightGray"/>
  </gazebo>
  <joint name="drawer_sink_col3_top_handle_drawer_sink_col3_top_joint" type="fixed">
    <origin rpy="0 0 0" xyz="0.0625 0.0 0.0175"/>
    <parent link="drawer_sink_col3_top_link"/>
    <child link="handle_drawer_sink_col3_top_link"/>
  </joint>
  <link name="handle_drawer_sink_col3_top_link">
    <inertial>
      <mass value="0.1"/>
      <inertia ixx="0.00212604166667" ixy="0" ixz="0" iyy="0.00212604166667" iyz="0" izz="1.66666666667e-06"/>
    </inertial>
    <visual>
      <origin rpy="0 0 0" xyz="0 0 0"/>
      <geometry>
        <box size="0.01 0.505 0.01"/>
      </geometry>
      <material name="KitchenDarkGray"/>
    </visual>
    <collision>
      <origin rpy="0 0 0" xyz="0 0 0"/>
      <geometry>
        <box size="0.015 0.51 0.015"/>
      </geometry>
    </collision>
  </link>
  <gazebo reference="handle_drawer_sink_col3_top_link">
    <material value="Ias/KitchenDarkGray"/>
  </gazebo>
  <joint name="sink_block_skirting_sink_joint" type="fixed">
    <origin rpy="0 0 0" xyz="0.255 1.03 0.05"/>
    <parent link="sink_block_link"/>
    <child link="skirting_sink_link"/>
  </joint>
  <link name="skirting_sink_link">
    <inertial>
      <mass value="10"/>
      <inertia ixx="3.34166666667" ixy="0" ixz="0" iyy="3.55008333333" iyz="0" izz="0.225083333333"/>
    </inertial>
    <visual>
      <origin rpy="0 0 0" xyz="0 0 0"/>
      <geometry>
        <box size="0.51 2.0 0.1"/>
      </geometry>
      <material name="KitchenDarkGray"/>
    </visual>
    <collision>
      <origin rpy="0 0 0" xyz="0 0 0"/>
      <geometry>
        <box size="0.51 2.0 0.1"/>
      </geometry>
    </collision>
  </link>
  <gazebo reference="skirting_sink_link">
    <material value="Ias/KitchenDarkGray"/>
  </gazebo>
  <joint name="sink_block_joint" type="fixed">
    <origin rpy="0 0 0" xyz="-5.29 -5.65 0"/>
    <parent link="kitchen_link"/>
    <child link="sink_block_link"/>
  </joint>
  <link name="sink_block_link">
    <inertial>
      <mass value="0"/>
      <inertia ixx="0.0" ixy="0" ixz="0" iyy="0.0" iyz="0" izz="0.0"/>
    </inertial>
    <visual>
      <origin rpy="0 0 0" xyz="0 0 0"/>
      <geometry>
        <box size=".1 .1 .1"/>
      </geometry>
    </visual>
  </link>
  <joint name="fridge_block_counter_top_fridge_joint" type="fixed">
    <origin rpy="0 0 0" xyz="0.29 0.3 1.495"/>
    <parent link="fridge_block_link"/>
    <child link="counter_top_fridge_link"/>
  </joint>
  <link name="counter_top_fridge_link">
    <inertial>
      <mass value="2.0"/>
      <inertia ixx="0.06015" ixy="0" ixz="0" iyy="0.116066666667" iyz="0" izz="0.0562166666667"/>
    </inertial>
    <visual>
      <origin rpy="0 0 0" xyz="0 0 0"/>
      <geometry>
        <box size="0.58 0.6 0.03"/>
      </geometry>
      <material name="KitchenDarkGray"/>
    </visual>
    <collision>
      <origin rpy="0 0 0" xyz="0 0 0"/>
      <geometry>
        <box size="0.58 0.6 0.03"/>
      </geometry>
    </collision>
  </link>
  <gazebo reference="counter_top_fridge_link">
    <kp>100000</kp>
    <kd>1000000</kd>
    <mu1>50000</mu1>
    <mu2>50000</mu2>
    <material value="Ias/KitchenDarkGray"/>
  </gazebo>
  <joint name="fridge_block_counter_side_fridge_left_joint" type="fixed">
    <origin rpy="0 0 0" xyz="0.29 0.01 0.815"/>
    <parent link="fridge_block_link"/>
    <child link="counter_side_fridge_left_link"/>
  </joint>
  <link name="counter_side_fridge_left_link">
    <inertial>
      <mass value="2.0"/>
      <inertia ixx="0.294883333333" ixy="0" ixz="0" iyy="0.0561333333333" iyz="0" izz="0.350883333333"/>
    </inertial>
    <visual>
      <origin rpy="0 0 0" xyz="0 0 0"/>
      <geometry>
        <box size="0.58 0.02 1.33"/>
      </geometry>
      <material name="KitchenDarkGray"/>
    </visual>
    <collision>
      <origin rpy="0 0 0" xyz="0 0 0"/>
      <geometry>
        <box size="0.58 0.02 1.33"/>
      </geometry>
    </collision>
  </link>
  <gazebo reference="counter_side_fridge_left_link">
    <material value="Ias/KitchenDarkGray"/>
  </gazebo>
  <joint name="fridge_block_counter_side_fridge_right_joint" type="fixed">
    <origin rpy="0 0 0" xyz="0.29 0.59 0.815"/>
    <parent link="fridge_block_link"/>
    <child link="counter_side_fridge_right_link"/>
  </joint>
  <link name="counter_side_fridge_right_link">
    <inertial>
      <mass value="2.0"/>
      <inertia ixx="0.294883333333" ixy="0" ixz="0" iyy="0.0561333333333" iyz="0" izz="0.350883333333"/>
    </inertial>
    <visual>
      <origin rpy="0 0 0" xyz="0 0 0"/>
      <geometry>
        <box size="0.58 0.02 1.33"/>
      </geometry>
      <material name="KitchenDarkGray"/>
    </visual>
    <collision>
      <origin rpy="0 0 0" xyz="0 0 0"/>
      <geometry>
        <box size="0.58 0.02 1.33"/>
      </geometry>
    </collision>
  </link>
  <gazebo reference="counter_side_fridge_right_link">
    <material value="Ias/KitchenDarkGray"/>
  </gazebo>
  <joint name="fridge_block_counter_bottom_fridge_joint" type="fixed">
    <origin rpy="0 0 0" xyz="0.2875 0.3 0.515"/>
    <parent link="fridge_block_link"/>
    <child link="counter_bottom_fridge_link"/>
  </joint>
  <link name="counter_bottom_fridge_link">
    <inertial>
      <mass value="2.0"/>
      <inertia ixx="0.06015" ixy="0" ixz="0" iyy="0.115104166667" iyz="0" izz="0.0552541666667"/>
    </inertial>
    <visual>
      <origin rpy="0 0 0" xyz="0 0 0"/>
      <geometry>
        <box size="0.575 0.6 0.03"/>
      </geometry>
      <material name="KitchenWhite"/>
    </visual>
    <collision>
      <origin rpy="0 0 0" xyz="0 0 0"/>
      <geometry>
        <box size="0.575 0.6 0.03"/>
      </geometry>
    </collision>
  </link>
  <gazebo reference="counter_bottom_fridge_link">
    <kp>100000</kp>
    <kd>1000000</kd>
    <mu1>50000</mu1>
    <mu2>50000</mu2>
    <material value="Ias/KitchenWhite"/>
  </gazebo>
  <joint name="fridge_block_counter_middle_fridge_joint" type="fixed">
    <origin rpy="0 0 0" xyz="0.2875 0.3 0.845"/>
    <parent link="fridge_block_link"/>
    <child link="counter_middle_fridge_link"/>
  </joint>
  <link name="counter_middle_fridge_link">
    <inertial>
      <mass value="2.0"/>
      <inertia ixx="0.06015" ixy="0" ixz="0" iyy="0.115104166667" iyz="0" izz="0.0552541666667"/>
    </inertial>
    <visual>
      <origin rpy="0 0 0" xyz="0 0 0"/>
      <geometry>
        <box size="0.575 0.6 0.03"/>
      </geometry>
      <material name="KitchenWhite"/>
    </visual>
    <collision>
      <origin rpy="0 0 0" xyz="0 0 0"/>
      <geometry>
        <box size="0.575 0.6 0.03"/>
      </geometry>
    </collision>
  </link>
  <gazebo reference="counter_middle_fridge_link">
    <kp>100000</kp>
    <kd>1000000</kd>
    <mu1>50000</mu1>
    <mu2>50000</mu2>
    <material value="Ias/KitchenWhite"/>
  </gazebo>
  <joint name="fridge_block_drawer_fridge_bottom_fixed_joint" type="fixed">
    <origin rpy="0 0 0" xyz="0.57 0.3 0.3325"/>
    <parent link="fridge_block_link"/>
    <child link="drawer_fridge_bottom_fixed_link"/>
  </joint>
  <link name="drawer_fridge_bottom_fixed_link">
    <inertial>
      <mass value="1"/>
      <inertia ixx="4e-07" ixy="0" ixz="0" iyy="4e-07" iyz="0" izz="4e-07"/>
    </inertial>
  </link>
  <joint name="fridge_block_drawer_fridge_bottom_joint" type="prismatic">
    <origin rpy="0 0 0" xyz="0 0 0"/>
    <parent link="drawer_fridge_bottom_fixed_link"/>
    <child link="drawer_fridge_bottom_link"/>
    <axis xyz="0.999 0 0.044"/>
    <!-- the axis needs to be slightly tilted so that the drawers would stay closed in Gazebo-->
    <limit effort="300" lower="0" upper="0.48" velocity="10"/>
  </joint>
  <gazebo reference="fridge_block_drawer_fridge_bottom_joint">
    <erp>0.8</erp>
    <cfm>0.0000001</cfm>
    <stopKp>1000000.0</stopKp>
    <stopKd>1.0</stopKd>
  </gazebo>
  <link name="drawer_fridge_bottom_link">
    <inertial>
      <mass value="1.0"/>
      <inertia ixx="0.0377041666667" ixy="0" ixz="0" iyy="0.0266354166667" iyz="0" izz="0.0111354166667"/>
    </inertial>
    <visual>
      <origin rpy="0 0 0" xyz="0 0 0"/>
      <geometry>
        <box size="0.02 0.56 0.36"/>
      </geometry>
      <material name="KitchenLightGray"/>
    </visual>
    <collision>
      <origin rpy="0 0 0" xyz="0 0 0"/>
      <geometry>
        <box size="0.02 0.565 0.365"/>
      </geometry>
    </collision>
  </link>
  <gazebo reference="drawer_fridge_bottom_link">
    <material value="Ias/KitchenLightGray"/>
  </gazebo>
  <joint name="drawer_fridge_bottom_left_fixed_joint" type="fixed">
    <origin rpy="0 0 0" xyz="0 0 0"/>
    <parent link="drawer_fridge_bottom_link"/>
    <child link="drawer_fridge_bottom_left_link"/>
  </joint>
  <link name="drawer_fridge_bottom_left_link">
    <inertial>
      <mass value="1.0"/>
      <inertia ixx="0.00830208333333" ixy="0" ixz="0" iyy="0.0243333333333" iyz="0" izz="0.03256875"/>
    </inertial>
    <visual>
      <origin rpy="0 0 0" xyz="-0.27 -0.2225 0"/>
      <geometry>
        <box size="0.54 0.02 0.315"/>
      </geometry>
      <material name="KitchenDarkGray"/>
    </visual>
    <collision>
      <origin rpy="0 0 0" xyz="-0.27 -0.2225 0"/>
      <geometry>
        <box size="0.54 0.02 0.315"/>
      </geometry>
    </collision>
  </link>
  <gazebo reference="drawer_fridge_bottom_left_link">
    <material value="Ias/KitchenLightGray"/>
  </gazebo>
  <joint name="drawer_fridge_bottom_right_fixed_joint" type="fixed">
    <origin rpy="0 0 0" xyz="0 0 0"/>
    <parent link="drawer_fridge_bottom_link"/>
    <child link="drawer_fridge_bottom_right_link"/>
  </joint>
  <link name="drawer_fridge_bottom_right_link">
    <inertial>
      <mass value="1.0"/>
      <inertia ixx="0.00830208333333" ixy="0" ixz="0" iyy="0.0243333333333" iyz="0" izz="0.03256875"/>
    </inertial>
    <visual>
      <origin rpy="0 0 0" xyz="-0.27 0.2225 0"/>
      <geometry>
        <box size="0.54 0.02 0.315"/>
      </geometry>
      <material name="KitchenDarkGray"/>
    </visual>
    <collision>
      <origin rpy="0 0 0" xyz="-0.27 0.2225 0"/>
      <geometry>
        <box size="0.54 0.02 0.315"/>
      </geometry>
    </collision>
  </link>
  <gazebo reference="drawer_fridge_bottom_right_link">
    <material value="Ias/KitchenLightGray"/>
  </gazebo>
  <joint name="drawer_fridge_bottom_back_fixed_joint" type="fixed">
    <origin rpy="0 0 0" xyz="0 0 0"/>
    <parent link="drawer_fridge_bottom_link"/>
    <child link="drawer_fridge_bottom_back_link"/>
  </joint>
  <link name="drawer_fridge_bottom_back_link">
    <inertial>
      <mass value="1.0"/>
      <inertia ixx="0.0262875" ixy="0" ixz="0" iyy="0.0180520833333" iyz="0" izz="0.00830208333333"/>
    </inertial>
    <visual>
      <origin rpy="0 0 0" xyz="-0.54 0 0"/>
      <geometry>
        <box size="0.02 0.465 0.315"/>
      </geometry>
      <material name="KitchenDarkGray"/>
    </visual>
    <collision>
      <origin rpy="0 0 0" xyz="-0.54 0 0"/>
      <geometry>
        <box size="0.02 0.465 0.315"/>
      </geometry>
    </collision>
  </link>
  <gazebo reference="drawer_fridge_bottom_back_link">
    <material value="Ias/KitchenLightGray"/>
  </gazebo>
  <joint name="drawer_fridge_bottom_bottom_fixed_joint" type="fixed">
    <origin rpy="0 0 0" xyz="0 0 0"/>
    <parent link="drawer_fridge_bottom_link"/>
    <child link="drawer_fridge_bottom_bottom_link"/>
  </joint>
  <link name="drawer_fridge_bottom_bottom_link">
    <inertial>
      <mass value="1.0"/>
      <inertia ixx="0.0180520833333" ixy="0" ixz="0" iyy="0.04231875" iyz="0" izz="0.0243333333333"/>
    </inertial>
    <visual>
      <origin rpy="0 0 0" xyz="-0.27 0 -0.1475"/>
      <geometry>
        <box size="0.54 0.465 0.02"/>
      </geometry>
      <material name="KitchenDarkGray"/>
    </visual>
    <collision>
      <origin rpy="0 0 0" xyz="-0.27 0 -0.1475"/>
      <geometry>
        <box size="0.54 0.465 0.02"/>
      </geometry>
    </collision>
  </link>
  <gazebo reference="drawer_fridge_bottom_bottom_link">
    <material value="Ias/KitchenLightGray"/>
  </gazebo>
  <joint name="drawer_fridge_bottom_handle_drawer_fridge_bottom_joint" type="fixed">
    <origin rpy="0 0 0" xyz="0.0625 0.0 0.13"/>
    <parent link="drawer_fridge_bottom_link"/>
    <child link="handle_drawer_fridge_bottom_link"/>
  </joint>
  <link name="handle_drawer_fridge_bottom_link">
    <inertial>
      <mass value="0.1"/>
      <inertia ixx="0.00184166666667" ixy="0" ixz="0" iyy="0.00184166666667" iyz="0" izz="1.66666666667e-06"/>
    </inertial>
    <visual>
      <origin rpy="0 0 0" xyz="0 0 0"/>
      <geometry>
        <box size="0.01 0.47 0.01"/>
      </geometry>
      <material name="KitchenDarkGray"/>
    </visual>
    <collision>
      <origin rpy="0 0 0" xyz="0 0 0"/>
      <geometry>
        <box size="0.015 0.475 0.015"/>
      </geometry>
    </collision>
  </link>
  <gazebo reference="handle_drawer_fridge_bottom_link">
    <material value="Ias/KitchenDarkGray"/>
  </gazebo>
  <joint name="fridge_block_fridge_fixed_joint" type="fixed">
    <origin rpy="0 0 0" xyz="0.58 0.6 0.995"/>
    <parent link="fridge_block_link"/>
    <child link="fridge_fixed_link"/>
  </joint>
  <link name="fridge_fixed_link">
    <inertial>
      <mass value="0.1"/>
      <inertia ixx="4e-08" ixy="0" ixz="0" iyy="4e-08" iyz="0" izz="4e-08"/>
    </inertial>
  </link>
  <joint name="fridge_block_fridge_joint" type="revolute">
    <origin rpy="0 0 0" xyz="0 0 0"/>
    <parent link="fridge_fixed_link"/>
    <child link="fridge_link"/>
    <axis xyz="0 0 1"/>
    <limit effort="300" lower="0" upper="1.3" velocity="10"/>
  </joint>
  <link name="fridge_link">
    <inertial>
      <mass value="1.0"/>
      <inertia ixx="0.107104166667" ixy="0" ixz="0" iyy="0.0295041666667" iyz="0" izz="0.0776041666667"/>
    </inertial>
    <visual>
      <origin rpy="0 0 0" xyz="-0.005 -0.3 0"/>
      <geometry>
        <box size="0.005 0.595 0.965"/>
      </geometry>
      <material name="KitchenLightGray"/>
    </visual>
    <collision>
      <origin rpy="0 0 0" xyz="-0.005 -0.3 0"/>
      <geometry>
        <box size="0.01 0.6 0.97"/>
      </geometry>
    </collision>
  </link>
  <gazebo reference="fridge_link">
    <material value="Ias/KitchenLightGray"/>
  </gazebo>
  <joint name="fridge_handle_fridge_joint" type="fixed">
    <origin rpy="0 0 0" xyz="0.0625 -0.57 0.0"/>
    <parent link="fridge_link"/>
    <child link="handle_fridge_link"/>
  </joint>
  <link name="handle_fridge_link">
    <inertial>
      <mass value="0.1"/>
      <inertia ixx="0.00638104166667" ixy="0" ixz="0" iyy="1.66666666667e-06" iyz="0" izz="0.00638104166667"/>
    </inertial>
    <visual>
      <origin rpy="0 0 0" xyz="0 0 0"/>
      <geometry>
        <box size="0.01 0.01 0.875"/>
      </geometry>
      <material name="KitchenDarkGray"/>
    </visual>
    <collision>
      <origin rpy="0 0 0" xyz="0 0 0"/>
      <geometry>
        <box size="0.015 0.015 0.88"/>
      </geometry>
    </collision>
  </link>
  <gazebo reference="handle_fridge_link">
    <material value="Ias/KitchenDarkGray"/>
  </gazebo>
  <joint name="fridge_block_skirting_fridge_joint" type="fixed">
    <origin rpy="0 0 0" xyz="0.255 0.3 0.075"/>
    <parent link="fridge_block_link"/>
    <child link="skirting_fridge_link"/>
  </joint>
  <link name="skirting_fridge_link">
    <inertial>
      <mass value="10"/>
      <inertia ixx="0.31875" ixy="0" ixz="0" iyy="0.51675" iyz="0" izz="0.2355"/>
    </inertial>
    <visual>
      <origin rpy="0 0 0" xyz="0 0 0"/>
      <geometry>
        <box size="0.51 0.6 0.15"/>
      </geometry>
      <material name="KitchenDarkGray"/>
    </visual>
    <collision>
      <origin rpy="0 0 0" xyz="0 0 0"/>
      <geometry>
        <box size="0.51 0.6 0.15"/>
      </geometry>
    </collision>
  </link>
  <gazebo reference="skirting_fridge_link">
    <material value="Ias/KitchenDarkGray"/>
  </gazebo>
  <joint name="fridge_block_joint" type="fixed">
    <origin rpy="0 0 0" xyz="-5.29 -3.59 0"/>
    <parent link="kitchen_link"/>
    <child link="fridge_block_link"/>
  </joint>
  <link name="fridge_block_link">
    <inertial>
      <mass value="0"/>
      <inertia ixx="0.0" ixy="0" ixz="0" iyy="0.0" iyz="0" izz="0.0"/>
    </inertial>
    <visual>
      <origin rpy="0 0 0" xyz="0 0 0"/>
      <geometry>
        <box size=".1 .1 .1"/>
      </geometry>
    </visual>
  </link>
  <joint name="pancake_table_table_pancake_table_table_top_joint" type="fixed">
    <origin rpy="0 0 0" xyz="0.8 0.3 0.7175"/>
    <parent link="pancake_table_table_link"/>
    <child link="pancake_table_table_top_link"/>
  </joint>
  <link name="pancake_table_table_top_link">
    <inertial>
      <mass value="2.0"/>
      <inertia ixx="0.0601041666667" ixy="0" ixz="0" iyy="0.486666666667" iyz="0" izz="0.426770833333"/>
    </inertial>
    <visual>
      <origin rpy="0 0 0" xyz="0 0 0"/>
      <geometry>
        <box size="1.6 0.6 0.025"/>
      </geometry>
      <material name="KitchenWhite"/>
    </visual>
    <collision>
      <origin rpy="0 0 0" xyz="0 0 0"/>
      <geometry>
        <box size="1.6 0.6 0.025"/>
      </geometry>
    </collision>
  </link>
  <gazebo reference="pancake_table_table_top_link">
    <kp>100000</kp>
    <kd>1000000</kd>
    <mu1>50000</mu1>
    <mu2>50000</mu2>
    <material value="Ias/KitchenWhite"/>
  </gazebo>
  <joint name="pancake_table_first_leg_joint" type="fixed">
    <origin rpy="0 0 0 " xyz="0.025 0.025 0.350"/>
    <parent link="pancake_table_table_link"/>
    <child link="pancake_table_first_leg_link"/>
  </joint>
  <link name="pancake_table_first_leg_link">
    <inertial>
      <mass value="1.0"/>
      <inertia ixx="0.0409895833333" ixy="0" ixz="0" iyy="0.0003125" iyz="0" izz="0.0409895833333"/>
    </inertial>
    <visual>
      <origin rpy="0 0 0" xyz="0 0 0"/>
      <geometry>
        <cylinder length="0.700" radius="0.025"/>
      </geometry>
    </visual>
    <collision>
      <origin rpy="0 0 0" xyz="0 0 0"/>
      <geometry>
        <cylinder length="0.700" radius="0.025"/>
      </geometry>
    </collision>
  </link>
  <gazebo reference="pancake_table_first_leg_link">
    <material value="Ias/KitchenLightGray"/>
  </gazebo>
  <joint name="pancake_table_second_leg_joint" type="fixed">
    <origin rpy="0 0 0" xyz="1.575 0.025 0.350"/>
    <parent link="pancake_table_table_link"/>
    <child link="pancake_table_second_leg_link"/>
  </joint>
  <link name="pancake_table_second_leg_link">
    <inertial>
      <mass value="1.0"/>
      <inertia ixx="0.0409895833333" ixy="0" ixz="0" iyy="0.0003125" iyz="0" izz="0.0409895833333"/>
    </inertial>
    <visual>
      <origin rpy="0 0 0" xyz="0 0 0"/>
      <geometry>
        <cylinder length="0.700" radius="0.025"/>
      </geometry>
    </visual>
    <collision>
      <origin rpy="0 0 0" xyz="0 0 0"/>
      <geometry>
        <cylinder length="0.700" radius="0.025"/>
      </geometry>
    </collision>
  </link>
  <gazebo reference="pancake_table_second_leg_link">
    <material value="Ias/KitchenLightGray"/>
  </gazebo>
  <joint name="pancake_table_third_leg_joint" type="fixed">
    <origin rpy="0 0 0" xyz="0.025 0.575 0.350"/>
    <parent link="pancake_table_table_link"/>
    <child link="pancake_table_third_leg_link"/>
  </joint>
  <link name="pancake_table_third_leg_link">
    <inertial>
      <mass value="1.0"/>
      <inertia ixx="0.0409895833333" ixy="0" ixz="0" iyy="0.0003125" iyz="0" izz="0.0409895833333"/>
    </inertial>
    <visual>
      <origin rpy="0 0 0" xyz="0 0 0"/>
      <geometry>
        <cylinder length="0.700" radius="0.025"/>
      </geometry>
    </visual>
    <collision>
      <origin rpy="0 0 0" xyz="0 0 0"/>
      <geometry>
        <cylinder length="0.700" radius="0.025"/>
      </geometry>
    </collision>
  </link>
  <gazebo reference="pancake_table_third_leg_link">
    <material value="Ias/KitchenLightGray"/>
  </gazebo>
  <joint name="pancake_table_fourth_leg_joint" type="fixed">
    <origin rpy="0 0 0" xyz="1.575 0.575 0.350"/>
    <parent link="pancake_table_table_link"/>
    <child link="pancake_table_fourth_leg_link"/>
  </joint>
  <link name="pancake_table_fourth_leg_link">
    <inertial>
      <mass value="1.0"/>
      <inertia ixx="0.0409895833333" ixy="0" ixz="0" iyy="0.0003125" iyz="0" izz="0.0409895833333"/>
    </inertial>
    <visual>
      <origin rpy="0 0 0" xyz="0 0 0"/>
      <geometry>
        <cylinder length="0.700" radius="0.025"/>
      </geometry>
    </visual>
    <collision>
      <origin rpy="0 0 0" xyz="0 0 0"/>
      <geometry>
        <cylinder length="0.700" radius="0.025"/>
      </geometry>
    </collision>
  </link>
  <gazebo reference="pancake_table_fourth_leg_link">
    <material value="Ias/KitchenLightGray"/>
  </gazebo>
  <joint name="pancake_table_table_joint" type="fixed">
    <origin rpy="0 0 1.57" xyz="-2.1 -4.77 0.0"/>
    <parent link="kitchen_link"/>
    <child link="pancake_table_table_link"/>
  </joint>
  <link name="pancake_table_table_link">
    <inertial>
      <mass value="0"/>
      <inertia ixx="0.0" ixy="0" ixz="0" iyy="0.0" iyz="0" izz="0.0"/>
    </inertial>
    <visual>
      <origin rpy="0 0 0" xyz="0 0 0"/>
      <geometry>
        <box size=".1 .1 .1"/>
      </geometry>
    </visual>
  </link>
  <!--<table name="eating_table" parent="kitchen" block_pos="-1.7 -2.1 0" block_rpy="0 0 1.57" material="KitchenWhite"/>-->
  <!--    <chair name="eating_1" parent="kitchen" xyz="-1.35 -1.2 0" rpy="0 0 1.57"/>
    <chair name="eating_2" parent="kitchen" xyz="-1.35 -1.8 0" rpy="0 0 1.57"/>
    <chair name="eating_3" parent="kitchen" xyz="-2.65 -0.75 0" rpy="0 0 -1.57"/>
    <chair name="eating_4" parent="kitchen" xyz="-2.65 -1.35 0" rpy="0 0 -1.57"/>-->
</robot>
